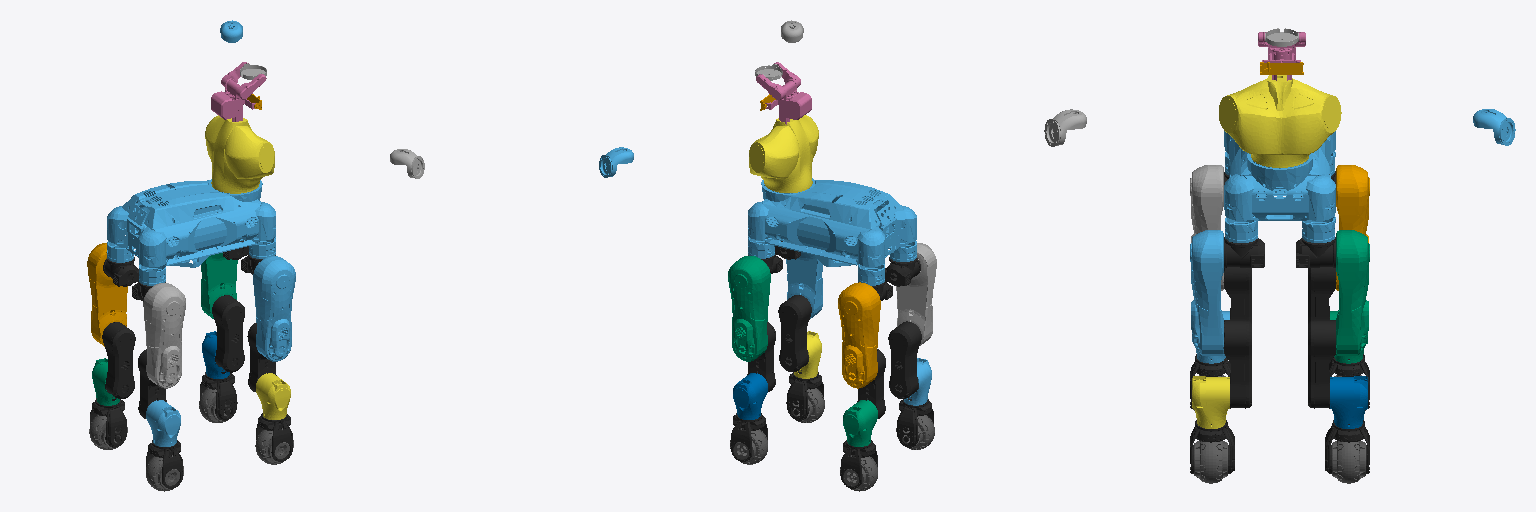
--- Facts derived from the render (not from the file) ---
3 views of the same robot in one strip: view 1: azimuth 30°, elevation 25°; view 2: azimuth 150°, elevation 25°; view 3: azimuth 270°, elevation 25° (orthographic).
Robot: centauro — 94 links, 93 joints (35 revolute, 4 continuous, 53 fixed, 1 floating); root link world; default pose: joints at zero except 2 at the middle of their limits (j_arm1_2 = 1.73, j_arm2_2 = -1.72).
Links seen in each view (by area): view 1: pelvis, torso_2, hip2_2, hip2_4, hip2_3, knee_1, knee_3, hip2_1, neck_1, ankle1_4, ankle1_2, ankle2_3 (+13 smaller); view 2: pelvis, torso_2, hip2_3, hip2_1, hip2_4, knee_4, knee_2, hip2_2, neck_1, ankle1_3, ankle1_1, ankle2_4 (+13 smaller); view 3: pelvis, torso_2, hip2_1, hip2_2, knee_1, knee_2, hip2_3, hip2_4, ankle1_1, ankle1_2, wheel_1, wheel_2 (+12 smaller).
Link boxes in pixels (<box>): pelvis: <box>107,179,275,285</box>; torso_2: <box>205,115,274,193</box>; hip2_2: <box>253,256,295,361</box>; hip2_4: <box>143,283,185,388</box>; hip2_3: <box>87,243,127,346</box>; knee_1: <box>212,295,244,372</box>; knee_3: <box>102,322,135,398</box>; hip2_1: <box>201,253,237,318</box>; neck_1: <box>211,62,266,121</box>; ankle1_4: <box>146,400,180,446</box>; ankle1_2: <box>256,373,290,419</box>; ankle2_3: <box>90,397,126,447</box>; pelvis: <box>748,178,916,285</box>; torso_2: <box>749,115,818,192</box>; hip2_3: <box>838,282,880,388</box>; hip2_1: <box>728,256,770,361</box>; hip2_4: <box>896,243,936,345</box>; knee_4: <box>888,321,921,398</box>; knee_2: <box>778,295,811,371</box>; hip2_2: <box>786,252,822,318</box>; neck_1: <box>756,62,811,124</box>; ankle1_3: <box>843,400,877,446</box>; ankle1_1: <box>733,373,767,419</box>; ankle2_4: <box>897,397,933,447</box>; pelvis: <box>1224,131,1335,242</box>; torso_2: <box>1219,75,1341,167</box>; hip2_1: <box>1336,230,1369,355</box>; hip2_2: <box>1190,230,1223,355</box>; knee_1: <box>1308,320,1335,408</box>; knee_2: <box>1224,320,1251,408</box>; hip2_3: <box>1336,165,1369,290</box>; hip2_4: <box>1190,165,1223,290</box>; ankle1_1: <box>1330,376,1367,428</box>; ankle1_2: <box>1192,376,1229,428</box>; wheel_1: <box>1332,441,1365,483</box>; wheel_2: <box>1194,441,1227,483</box>.
Size in the robot's own frame: 0.9762 by 1.52 by 1.62 metres.
Meshes: 23 distinct files referenced, 31 mesh visuals loaded (12 binary STL); not drawn: 18 (reference not matched to a file when rendering).

robot.urdf — centauro:
<?xml version="1.0" ?> 
<robot name="centauro" version="1.0">
  <material name="black">
    <color rgba="0.4 0.4 0.4 1.0" />
  </material>
  <material name="dark">
    <color rgba="0.1 0.1 0.1 1.0" />
  </material>
  <material name="dark_grey">
    <color rgba="0.2 0.2 0.2 1.0" />
  </material>
  <link name="base_link" />
  <link name="pelvis">
    <inertial>
      <origin xyz="-0.0016320207 0.0026534004000000003 0.079167428" rpy="0.0 0.0 0.0" />
      <mass value="26.584529" />
      <inertia ixx="0.39195477" ixy="0.024781258999999996" ixz="0.017108606999999998" iyy="1.0000708999999999" iyz="0.0052627106000000005" izz="1.0679988999999999" />
    </inertial>
    <visual>
      <origin xyz="0.0 0.0 0.0" rpy="0.0 0.0 0.0" />
      <geometry>
        <mesh filename="package://centauro_urdf/meshes/v2/pelvis.stl" scale="0.001 0.001 0.001" />
      </geometry>
    </visual>
    <collision name="pelvis">
      <origin xyz="-0.005084999999999992 2.00284e-07 0.03057945" rpy="3.141584708121066 1.5478729636744712 3.14158452386424" />
      <geometry>
        <cylinder radius="0.213204" length="0.38594139791384763" />
      </geometry>
    </collision>
  <collision_checking><capsule name="pelvis" /></collision_checking></link>
  <link name="imu_link" />
  <joint name="imu_joint" type="fixed">
    <origin xyz="0.248316 0.0 0.015" rpy="0.0 0.0 0.0" />
    <parent link="pelvis" />
    <child link="imu_link" />
  </joint>
  <joint name="base_joint" type="fixed">
    <origin xyz="0.0 0.0 0.0" rpy="0.0 0.0 0.0" />
    <parent link="pelvis" />
    <child link="base_link" />
  </joint>
  <link name="torso_2">
    <inertial>
      <origin xyz="-0.019497794 0.0045317835 0.13768283" rpy="0.0 0.0 0.0" />
      <mass value="12.553731" />
      <inertia ixx="0.063643392" ixy="8.939e-05" ixz="-0.00086873" iyy="0.02680235" iyz="-4.657e-05" izz="0.04743015" />
    </inertial>
    <visual>
      <origin xyz="0.0 0.0 0.0" rpy="0.0 0.0 0.0" />
      <geometry>
        <mesh filename="package://centauro_urdf/meshes/link1_no_head.stl" scale="0.001 0.001 0.001" />
      </geometry>
    </visual>
    <collision name="torso_2">
      <origin xyz="-3.2165000000000015e-05 9.785000000000002e-05 0.07465275" rpy="1.5666391113102787 -0.01588146658428072 -0.0158155835137567" />
      <geometry>
        <cylinder radius="0.158224" length="0.09543675990850982" />
      </geometry>
    </collision>
  <collision_checking><capsule name="torso_2" /></collision_checking></link>
  <joint name="torso_yaw" type="revolute">
    <origin xyz="0.2 0.0 0.256" rpy="0.0 0.0 0.0" />
    <axis xyz="0.0 0.0 1.0" />
    <parent link="pelvis" />
    <child link="torso_2" />
    <limit effort="147.0" lower="-2.618" upper="2.618" velocity="5.7" />
  </joint>
  <link name="arm1_1">
    <inertial>
      <origin xyz="-0.0074457212 0.03410796 0.00010978102" rpy="0.0 0.0 0.0" />
      <mass value="1.9628675" />
      <inertia ixx="0.0053547717" ixy="0.00036428926" ixz="1.5089568e-05" iyy="0.0033923328" iyz="5.5692312e-05" izz="0.0068921413" />
    </inertial>
    <visual>
      <origin xyz="0.0 0.0 0.0" rpy="0.0 0.0 0.0" />
      <geometry>
        <mesh filename="package://centauro_urdf/meshes/ShoulderPitch.STL" scale="0.001 -0.001 0.001" />
      </geometry>
      <material name="dark_grey" />
    </visual>
    <collision name="arm1_1">
      <origin xyz="0.017831411999999998 0.05324115 2.3169000000000008e-05" rpy="-1.6903347176271586 1.4526491831510902 -1.5721974565036339" />
      <geometry>
        <cylinder radius="0.0698859" length="0.03739768494560427" />
      </geometry>
    </collision>
  <collision_checking><capsule name="arm1_1" /></collision_checking></link>
  <link name="arm1_2">
    <inertial>
      <origin xyz="0.058142302 5.7450803e-05 -0.077477683" rpy="0.0 0.0 0.0" />
      <mass value="1.8595811" />
      <inertia ixx="0.013776643" ixy="3.7788675e-05" ixz="0.0037690171" iyy="0.015677464" iyz="-9.4893549e-06" izz="0.0046317657" />
    </inertial>
    <visual>
      <origin xyz="0.0 0.0 0.0" rpy="0.0 0.0 0.0" />
      <geometry>
        <mesh filename="package://centauro_urdf/meshes/ShoulderRoll.STL" scale="0.001 -0.001 0.001" />
      </geometry>
    </visual>
    <collision name="arm1_2">
      <origin xyz="0.0637382 4.0379999999999995e-07 -0.064359175" rpy="3.141581408692036 0.43013736369295724 3.141541177080914" />
      <geometry>
        <cylinder radius="0.0700645" length="0.12799269981445732" />
      </geometry>
    </collision>
  <collision_checking><capsule name="arm1_2" /></collision_checking></link>
  <link name="arm1_3">
    <inertial>
      <origin xyz="0.014625194 0.0008172672 -0.028333545" rpy="0.0 0.0 0.0" />
      <mass value="1.6678109" />
      <inertia ixx="0.0064480435" ixy="-0.00015639093" ixz="0.0012205359" iyy="0.0073372077" iyz="8.9941532e-05" izz="0.0036738448" />
    </inertial>
    <visual>
      <origin xyz="0.0 0.0 0.0" rpy="0.0 0.0 0.0" />
      <geometry>
        <mesh filename="package://centauro_urdf/meshes/ShoulderYaw.STL" scale="0.001 -0.001 0.001" />
      </geometry>
      <material name="dark_grey" />
    </visual>
    <collision name="arm1_3">
      <origin xyz="0.0073075385949999995 -0.0040911384949999996 -0.03662884" rpy="3.0024238046134086 0.2429098209130052 2.103907539504161" />
      <geometry>
        <cylinder radius="0.0896121" length="0.06082252644344949" />
      </geometry>
    </collision>
  <collision_checking><capsule name="arm1_3" /></collision_checking></link>
  <link name="arm1_4">
    <inertial>
      <origin xyz="-0.0076833067 -0.040302205 -0.043492779" rpy="0.0 0.0 0.0" />
      <mass value="1.3157289" />
      <inertia ixx="0.004330394" ixy="-0.00011737391" ixz="-0.00041923199" iyy="0.0038539919" iyz="-0.00079573038" izz="0.0017594689" />
    </inertial>
    <visual>
      <origin xyz="0.0 0.0 0.0" rpy="0.0 0.0 0.0" />
      <geometry>
        <mesh filename="package://centauro_urdf/meshes/Elbow.STL" scale="0.001 -0.001 0.001" />
      </geometry>
    </visual>
    <collision name="arm1_4">
      <origin xyz="-0.00746020465 -0.0408499 -0.0404292381" rpy="-0.33854605247629793 0.17337814940326016 -0.029704070188628324" />
      <geometry>
        <cylinder radius="0.0600429" length="0.08713418572944408" />
      </geometry>
    </collision>
  <collision_checking><capsule name="arm1_4" /></collision_checking></link>
  <link name="arm1_5">
    <inertial>
      <origin xyz="-0.00011079615 0.011590836 -0.07816026" rpy="0.0 0.0 0.0" />
      <mass value="1.4908547" />
      <inertia ixx="0.0085692128" ixy="1.7856252e-05" ixz="1.9379365e-05" iyy="0.0077454159" iyz="-0.00032860094" izz="0.0027441921" />
    </inertial>
    <visual>
      <origin xyz="0.0 0.0 0.0" rpy="0.0 0.0 0.0" />
      <geometry>
        <mesh filename="package://centauro_urdf/meshes/Forearm.STL" scale="0.001 -0.001 0.001" />
      </geometry>
      <material name="dark_grey" />
    </visual>
    <collision name="arm1_5">
      <origin xyz="-3.7982785e-06 0.00576208 -0.08227100000000001" rpy="-0.1950499967900825 0.00010897079569875528 -1.0661198134352675e-05" />
      <geometry>
        <cylinder radius="0.0804108" length="0.08434739747702645" />
      </geometry>
    </collision>
  <collision_checking><capsule name="arm1_5" /></collision_checking></link>
  <link name="arm1_6">
    <inertial>
      <origin xyz="-4.6502396e-06 -0.038014094 -0.069926878" rpy="0.0 0.0 0.0" />
      <mass value="1.1263612" />
      <inertia ixx="0.0051871784" ixy="2.724437e-05" ixz="2.2833496e-06" iyy="0.0048037789" iyz="-0.00072165653" izz="0.0012771388" />
    </inertial>
    <visual>
      <origin xyz="0.0 0.0 0.0" rpy="0.0 0.0 0.0" />
      <geometry>
        <mesh filename="package://centauro_urdf/meshes/wrist_pitch_right.stl" scale="0.001 -0.001 0.001" />
      </geometry>
    </visual>
    <collision name="arm1_6">
      <origin xyz="-0.0007855109 -0.028511995000000002 -0.03192399" rpy="-0.5594293097385409 -0.02095499521275571 0.006019428316027259" />
      <geometry>
        <cylinder radius="0.0474698" length="0.07750977987441161" />
      </geometry>
    </collision>
  <collision_checking><capsule name="arm1_6" /></collision_checking></link>
  <joint name="j_arm1_1" type="revolute">
    <origin xyz="0.0457475 0.169137 0.116626" rpy="0.174533 0.0 -0.5235988" />
    <axis xyz="0.0 1.0 0.0" />
    <parent link="torso_2" />
    <child link="arm1_1" />
    <limit effort="147.0" lower="-3.312" upper="1.615" velocity="3.86" />
  </joint>
  <joint name="j_arm1_2" type="revolute">
    <origin xyz="-0.09015 0.062 0.0" rpy="-0.1745327 0.0 0.0" />
    <axis xyz="1.0 0.0 0.0" />
    <parent link="arm1_1" />
    <child link="arm1_2" />
    <limit effort="147.0" lower="0.02" upper="3.431" velocity="3.86" />
  </joint>
  <joint name="j_arm1_3" type="revolute">
    <origin xyz="0.09015 0.0 -0.21815" rpy="0.0 0.0 0.0" />
    <axis xyz="0.0 0.0 1.0" />
    <parent link="arm1_2" />
    <child link="arm1_3" />
    <limit effort="147.0" lower="-2.552" upper="2.566" velocity="6.06" />
  </joint>
  <joint name="j_arm1_4" type="revolute">
    <origin xyz="0.045 0.05515 -0.074" rpy="0.0 0.0 0.0" />
    <axis xyz="0.0 1.0 0.0" />
    <parent link="arm1_3" />
    <child link="arm1_4" />
    <limit effort="147.0" lower="-2.465" upper="0.28" velocity="6.06" />
  </joint>
  <joint name="j_arm1_5" type="revolute">
    <origin xyz="-0.015 -0.05515 -0.095" rpy="0.0 0.0 0.0" />
    <axis xyz="0.0 0.0 1.0" />
    <parent link="arm1_4" />
    <child link="arm1_5" />
    <limit effort="55.0" lower="-2.569" upper="2.562" velocity="11.72" />
  </joint>
  <joint name="j_arm1_6" type="revolute">
    <origin xyz="0.0 0.049 -0.156" rpy="0.0 0.0 0.0" />
    <axis xyz="0.0 1.0 0.0" />
    <parent link="arm1_5" />
    <child link="arm1_6" />
    <limit effort="55.0" lower="-1.529" upper="1.509" velocity="11.72" />
  </joint>
  <link name="arm2_1">
    <inertial>
      <origin xyz="-0.0074457212 -0.03410796 0.00010978102" rpy="0.0 0.0 0.0" />
      <mass value="1.9628675" />
      <inertia ixx="0.0053547717" ixy="-0.00036428926" ixz="1.5089568e-05" iyy="0.0033923328" iyz="-5.5692312e-05" izz="0.0068921413" />
    </inertial>
    <visual>
      <origin xyz="0.0 0.0 0.0" rpy="0.0 0.0 0.0" />
      <geometry>
        <mesh filename="package://centauro_urdf/meshes/ShoulderPitch.STL" scale="0.001 0.001 0.001" />
      </geometry>
      <material name="dark_grey" />
    </visual>
    <collision name="arm2_1">
      <origin xyz="0.017831411999999998 -0.05324115 2.3169000000000008e-05" rpy="1.6903347176271586 1.4526491831510902 1.5721974565036339" />
      <geometry>
        <cylinder radius="0.0698859" length="0.03739768494560427" />
      </geometry>
    </collision>
  <collision_checking><capsule name="arm2_1" /></collision_checking></link>
  <link name="arm2_2">
    <inertial>
      <origin xyz="0.058142302 -5.7450803e-05 -0.077477683" rpy="0.0 0.0 0.0" />
      <mass value="1.8595811" />
      <inertia ixx="0.013776643" ixy="-3.7788675e-05" ixz="0.0037690171" iyy="0.015677464" iyz="9.4893549e-06" izz="0.0046317657" />
    </inertial>
    <visual>
      <origin xyz="0.0 0.0 0.0" rpy="0.0 0.0 0.0" />
      <geometry>
        <mesh filename="package://centauro_urdf/meshes/ShoulderRoll.STL" scale="0.001 0.001 0.001" />
      </geometry>
    </visual>
    <collision name="arm2_2">
      <origin xyz="0.0637382 -4.0379999999999995e-07 -0.064359175" rpy="-3.141581408692036 0.43013736369295724 -3.141541177080914" />
      <geometry>
        <cylinder radius="0.0700645" length="0.12799269981445732" />
      </geometry>
    </collision>
  <collision_checking><capsule name="arm2_2" /></collision_checking></link>
  <link name="arm2_3">
    <inertial>
      <origin xyz="0.014625194 -0.0008172672 -0.028333545" rpy="0.0 0.0 0.0" />
      <mass value="1.6678109" />
      <inertia ixx="0.0064480435" ixy="0.00015639093" ixz="0.0012205359" iyy="0.0073372077" iyz="-8.9941532e-05" izz="0.0036738448" />
    </inertial>
    <visual>
      <origin xyz="0.0 0.0 0.0" rpy="0.0 0.0 0.0" />
      <geometry>
        <mesh filename="package://centauro_urdf/meshes/ShoulderYaw.STL" scale="0.001 0.001 0.001" />
      </geometry>
      <material name="dark_grey" />
    </visual>
    <collision name="arm2_3">
      <origin xyz="0.0073075385949999995 0.0040911384949999996 -0.03662884" rpy="-3.0024238046134086 0.2429098209130052 -2.103907539504161" />
      <geometry>
        <cylinder radius="0.0896121" length="0.06082252644344949" />
      </geometry>
    </collision>
  <collision_checking><capsule name="arm2_3" /></collision_checking></link>
  <link name="arm2_4">
    <inertial>
      <origin xyz="-0.0076833067 0.040302205 -0.043492779" rpy="0.0 0.0 0.0" />
      <mass value="1.3157289" />
      <inertia ixx="0.004330394" ixy="0.00011737391" ixz="-0.00041923199" iyy="0.0038539919" iyz="0.00079573038" izz="0.0017594689" />
    </inertial>
    <visual>
      <origin xyz="0.0 0.0 0.0" rpy="0.0 0.0 0.0" />
      <geometry>
        <mesh filename="package://centauro_urdf/meshes/Elbow.STL" scale="0.001 0.001 0.001" />
      </geometry>
    </visual>
    <collision name="arm2_4">
      <origin xyz="-0.00746020465 0.0408499 -0.0404292381" rpy="0.33854605247629793 0.17337814940326016 0.029704070188628324" />
      <geometry>
        <cylinder radius="0.0600429" length="0.08713418572944408" />
      </geometry>
    </collision>
  <collision_checking><capsule name="arm2_4" /></collision_checking></link>
  <link name="arm2_5">
    <inertial>
      <origin xyz="-0.00011079615 -0.011590836 -0.07816026" rpy="0.0 0.0 0.0" />
      <mass value="1.4908547" />
      <inertia ixx="0.0085692128" ixy="-1.7856252e-05" ixz="1.9379365e-05" iyy="0.0077454159" iyz="0.00032860094" izz="0.0027441921" />
    </inertial>
    <visual>
      <origin xyz="0.0 0.0 0.0" rpy="0.0 0.0 0.0" />
      <geometry>
        <mesh filename="package://centauro_urdf/meshes/Forearm.STL" scale="0.001 0.001 0.001" />
      </geometry>
      <material name="dark_grey" />
    </visual>
    <collision name="arm2_5">
      <origin xyz="-3.7982785e-06 -0.00576208 -0.08227100000000001" rpy="0.1950499967900825 0.00010897079569875528 1.0661198134352675e-05" />
      <geometry>
        <cylinder radius="0.0804108" length="0.08434739747702645" />
      </geometry>
    </collision>
  <collision_checking><capsule name="arm2_5" /></collision_checking></link>
  <link name="arm2_6">
    <inertial>
      <origin xyz="-4.6502396e-06 0.038014094 -0.069926878" rpy="0.0 0.0 0.0" />
      <mass value="1.1263612" />
      <inertia ixx="0.0051871784" ixy="-2.724437e-05" ixz="2.2833496e-06" iyy="0.0048037789" iyz="0.00072165653" izz="0.0012771388" />
    </inertial>
    <visual>
      <origin xyz="0.0 0.0 0.0" rpy="0.0 0.0 0.0" />
      <geometry>
        <mesh filename="package://centauro_urdf/meshes/wrist_pitch_right.stl" scale="0.001 0.001 0.001" />
      </geometry>
    </visual>
    <collision name="arm2_6">
      <origin xyz="-0.0007855109 0.028511995000000002 -0.03192399" rpy="0.5594293097385409 -0.02095499521275571 -0.006019428316027259" />
      <geometry>
        <cylinder radius="0.0474698" length="0.07750977987441161" />
      </geometry>
    </collision>
  <collision_checking><capsule name="arm2_6" /></collision_checking></link>
  <joint name="j_arm2_1" type="revolute">
    <origin xyz="0.0457475 -0.169137 0.116626" rpy="-0.174533 0.0 0.5235988" />
    <axis xyz="0.0 1.0 0.0" />
    <parent link="torso_2" />
    <child link="arm2_1" />
    <limit effort="147.0" lower="-3.3458" upper="1.6012" velocity="3.86" />
  </joint>
  <joint name="j_arm2_2" type="revolute">
    <origin xyz="-0.09015 -0.062 0.0" rpy="0.1745327 0.0 0.0" />
    <axis xyz="1.0 0.0 0.0" />
    <parent link="arm2_1" />
    <child link="arm2_2" />
    <limit effort="147.0" lower="-3.4258" upper="-0.0138" velocity="3.86" />
  </joint>
  <joint name="j_arm2_3" type="revolute">
    <origin xyz="0.09015 0.0 -0.21815" rpy="0.0 0.0 0.0" />
    <axis xyz="0.0 0.0 1.0" />
    <parent link="arm2_2" />
    <child link="arm2_3" />
    <limit effort="147.0" lower="-2.5614" upper="2.5606" velocity="6.06" />
  </joint>
  <joint name="j_arm2_4" type="revolute">
    <origin xyz="0.045 -0.05515 -0.074" rpy="0.0 0.0 0.0" />
    <axis xyz="0.0 1.0 0.0" />
    <parent link="arm2_3" />
    <child link="arm2_4" />
    <limit effort="147.0" lower="-2.4794" upper="0.2886" velocity="6.06" />
  </joint>
  <joint name="j_arm2_5" type="revolute">
    <origin xyz="-0.015 0.05515 -0.095" rpy="0.0 0.0 0.0" />
    <axis xyz="0.0 0.0 1.0" />
    <parent link="arm2_4" />
    <child link="arm2_5" />
    <limit effort="55.0" lower="-2.5394" upper="2.5546" velocity="11.72" />
  </joint>
  <joint name="j_arm2_6" type="revolute">
    <origin xyz="0.0 -0.049 -0.156" rpy="0.0 0.0 0.0" />
    <axis xyz="0.0 1.0 0.0" />
    <parent link="arm2_5" />
    <child link="arm2_6" />
    <limit effort="55.0" lower="-1.5154" upper="1.5156" velocity="11.72" />
  </joint>
  <link name="ball1">
    <inertial>
      <origin xyz="-1.0072498e-05 3.7590658e-05 0.019772332" rpy="0.0 0.0 0.0" />
      <mass value="1.27" />
      <inertia ixx="0.0023061092" ixy="2.9181758e-07" ixz="-2.1246683999999997e-07" iyy="0.0023053155000000002" iyz="7.9290978e-07" izz="0.0030675615999999997" />
    </inertial>
    <visual>
      <origin xyz="0.0 0.0 0.0" rpy="0.0 0.0 0.0" />
      <geometry>
        <mesh filename="package://centauro_urdf/meshes/BallHand.stl" scale="0.001 0.001 0.001" />
      </geometry>
      <material name="dark_grey" />
    </visual>
    <collision name="ball1">
      <origin xyz="-2.6819999999999855e-07 1.2015000000000003e-06 -0.0105021" rpy="-1.5654390438571615 -1.1857782102348717 1.1808181135942444" />
      <geometry>
        <cylinder radius="0.0709883" length="9.940076835940455e-05" />
      </geometry>
    </collision>
  <collision_checking><capsule name="ball1" /></collision_checking></link>
  <link name="ball1_tip" />
  <joint name="j_arm1_8" type="fixed">
    <origin xyz="0.0 -0.05 -0.105" rpy="0.0 0.0 0.0" />
    <parent link="arm1_6" />
    <child link="ball1" />
  </joint>
  <joint name="j_ball1_tip" type="fixed">
    <origin xyz="0.0 0.0 -0.07" rpy="0.0 0.0 0.0" />
    <parent link="ball1" />
    <child link="ball1_tip" />
  </joint>
  <joint name="j_ball1_fixed" type="fixed">
    <parent link="ball1" />
    <child link="arm1_8" />
  </joint>
  <link name="arm1_8">
    <inertial>
      <mass value="0.0" />
      <inertia ixx="0.0" ixy="0.0" ixz="0.0" iyy="0.0" iyz="0.0" izz="0.0" />
    </inertial>
  </link>
  <link name="ball2">
    <inertial>
      <origin xyz="-1.0072498e-05 3.7590658e-05 0.019772332" rpy="0.0 0.0 0.0" />
      <mass value="1.27" />
      <inertia ixx="0.0023061092" ixy="2.9181758e-07" ixz="-2.1246683999999997e-07" iyy="0.0023053155000000002" iyz="7.9290978e-07" izz="0.0030675615999999997" />
    </inertial>
    <visual>
      <origin xyz="0.0 0.0 0.0" rpy="0.0 0.0 0.0" />
      <geometry>
        <mesh filename="package://centauro_urdf/meshes/BallHand.stl" scale="0.001 0.001 0.001" />
      </geometry>
      <material name="dark_grey" />
    </visual>
    <collision name="ball2">
      <origin xyz="-2.6819999999999855e-07 1.2015000000000003e-06 -0.0105021" rpy="-1.5654390438571615 -1.1857782102348717 1.1808181135942444" />
      <geometry>
        <cylinder radius="0.0709883" length="9.940076835940455e-05" />
      </geometry>
    </collision>
  <collision_checking><capsule name="ball2" /></collision_checking></link>
  <link name="ball2_tip" />
  <joint name="j_arm2_8" type="fixed">
    <origin xyz="0.0 0.05 -0.105" rpy="0.0 0.0 0.0" />
    <parent link="arm2_6" />
    <child link="ball2" />
  </joint>
  <joint name="j_ball2_tip" type="fixed">
    <origin xyz="0.0 0.0 -0.07" rpy="0.0 0.0 0.0" />
    <parent link="ball2" />
    <child link="ball2_tip" />
  </joint>
  <joint name="j_ball2_fixed" type="fixed">
    <parent link="ball2" />
    <child link="arm2_8" />
  </joint>
  <link name="arm2_8">
    <inertial>
      <mass value="0.0" />
      <inertia ixx="0.0" ixy="0.0" ixz="0.0" iyy="0.0" iyz="0.0" izz="0.0" />
    </inertial>
  </link>
  <link name="neck_1">
    <inertial>
      <origin xyz="0.0 0.0 0.0" rpy="0.0 0.0 0.0" />
      <mass value="0.33878686" />
      <inertia ixx="0.0003718568" ixy="-9.42983e-05" ixz="-2.80644e-05" iyy="0.0001886879" iyz="-1.54534e-05" izz="0.0005023443" />
    </inertial>
    <visual>
      <origin xyz="0.0 0.0 0.0" rpy="0.0 0.0 0.0" />
      <geometry>
        <mesh filename="package://centauro_urdf/meshes/head-base_mesh.stl" scale="0.001 0.001 0.001" />
      </geometry>
    </visual>
    <collision name="neck_1">
      <origin xyz="0.006498149999999998 -1.4782499999999998e-06 0.1544216" rpy="0.00021616021402232196 0.3728341899733125 4.076931979237498e-05" />
      <geometry>
        <cylinder radius="0.100414" length="0.16454098025546557" />
      </geometry>
    </collision>
  <collision_checking><capsule name="neck_1" /></collision_checking></link>
  <link name="velodyne_motor">
    <inertial>
      <origin xyz="0.0 0.0 0.0" rpy="0.0 0.0 0.0" />
      <mass value="0.33878686" />
      <inertia ixx="0.0003718568" ixy="-9.42983e-05" ixz="-2.80644e-05" iyy="0.0001886879" iyz="-1.54534e-05" izz="0.0005023443" />
    </inertial>
    <visual>
      <origin xyz="0.0 0.0 0.0" rpy="0.0 0.0 0.0" />
      <geometry>
        <mesh filename="package://centauro_urdf/meshes/lidar_mesh.stl" scale="0.001 0.001 0.001" />
      </geometry>
    </visual>
    <collision name="velodyne_motor">
      <origin xyz="-0.0007438725 0.005083050000000001 0.008359974999999999" rpy="-1.5617654568599377 -0.08162793425341344 0.08089487547525437" />
      <geometry>
        <cylinder radius="0.0544637" length="0.032463112134515464" />
      </geometry>
    </collision>
  <collision_checking><capsule name="velodyne_motor" /></collision_checking></link>
  <link name="d435_head_motor">
    <inertial>
      <origin xyz="0.0 0.0 0.0" rpy="0.0 0.0 0.0" />
      <mass value="0.33878686" />
      <inertia ixx="0.0003718568" ixy="-9.42983e-05" ixz="-2.80644e-05" iyy="0.0001886879" iyz="-1.54534e-05" izz="0.0005023443" />
    </inertial>
    <visual>
      <origin xyz="0.0 0.0 0.0" rpy="0.0 0.0 0.0" />
      <geometry>
        <mesh filename="package://centauro_urdf/meshes/neck-pitch_mesh.stl" scale="0.001 0.001 0.001" />
      </geometry>
    </visual>
    <collision name="d435_head_motor">
      <origin xyz="0.01553645 -0.004684799999999996 0.0025092235000000003" rpy="-1.5968195967793293 0.04575443525621143 -0.04696044351276075" />
      <geometry>
        <cylinder radius="0.0261699" length="0.12134423548428976" />
      </geometry>
    </collision>
  <collision_checking><capsule name="d435_head_motor" /></collision_checking></link>
  <joint name="neck_base" type="fixed">
    <origin xyz="0.0030637045 0.0061607221 0.158" rpy="0.0 0.0 0.0" />
    <axis xyz="0.0 0.0 1.0" />
    <parent link="torso_2" />
    <child link="neck_1" />
  </joint>
  <joint name="velodyne_joint" type="revolute">
    <origin xyz="0.0822724 0.0 0.242" rpy="0.0 0.0 0.0" />
    <axis xyz="0.0 -1.0 0.0" />
    <parent link="neck_1" />
    <child link="velodyne_motor" />
    <limit effort="35.0" lower="-1.1" upper="1.1" velocity="5.7" />
    <dynamics friction="10.0" />
  </joint>
  <joint name="d435_head_joint" type="revolute">
    <origin xyz="0.06 0.0 0.1375" rpy="0.0 0.0 0.0" />
    <axis xyz="0.0 -1.0 0.0" />
    <parent link="neck_1" />
    <child link="d435_head_motor" />
    <limit effort="35.0" lower="-1.1" upper="1.1" velocity="5.7" />
    <dynamics friction="10.0" />
  </joint>
  <material name="D435_head_camera_aluminum">
    <color rgba="0.5 0.5 0.5 1.0" />
  </material>
  <joint name="D435_head_camera_joint" type="fixed">
    <origin xyz="0.03015 0.0 -0.0125" rpy="0.0 0.0 0.0" />
    <parent link="d435_head_motor" />
    <child link="D435_head_camera_bottom_screw_frame" />
  </joint>
  <link name="D435_head_camera_bottom_screw_frame" />
  <joint name="D435_head_camera_link_joint" type="fixed">
    <origin xyz="0.0 0.0175 0.0125" rpy="0.0 0.0 0.0" />
    <parent link="D435_head_camera_bottom_screw_frame" />
    <child link="D435_head_camera_link" />
  </joint>
  <link name="D435_head_camera_link">
    <inertial>
      <origin xyz="0.0 0.0 0.0" rpy="0.0 0.0 0.0" />
      <mass value="0.564" />
      <inertia ixx="0.003881243" ixy="0.0" ixz="0.0" iyy="0.00049894" iyz="0.0" izz="0.003879257" />
    </inertial>
    <visual>
      <origin xyz="0.0149 -0.0175 0.0" rpy="1.5707963267948966 0.0 1.5707963267948966" />
      <geometry>
        <mesh filename="package://realsense2_description/meshes/d435.dae" />
      </geometry>
      <material name="D435_head_camera_aluminum" />
    </visual>
    <collision>
      <origin xyz="0.0 -0.0175 0.0" rpy="0.0 0.0 0.0" />
      <geometry>
        <box size="0.02505 0.09 0.025" />
      </geometry>
    </collision>
  <collision_checking><capsule name="D435_head_camera_link" /></collision_checking></link>
  <joint name="D435_head_camera_depth_joint" type="fixed">
    <origin xyz="0.0 0.0 0.0" rpy="0.0 0.0 0.0" />
    <parent link="D435_head_camera_link" />
    <child link="D435_head_camera_depth_frame" />
  </joint>
  <link name="D435_head_camera_depth_frame" />
  <joint name="D435_head_camera_depth_optical_joint" type="fixed">
    <origin xyz="0.0 0.0 0.0" rpy="-1.5707963267948966 0.0 -1.5707963267948966" />
    <parent link="D435_head_camera_depth_frame" />
    <child link="D435_head_camera_depth_optical_frame" />
  </joint>
  <link name="D435_head_camera_depth_optical_frame" />
  <joint name="D435_head_camera_left_ir_joint" type="fixed">
    <origin xyz="0.0 0.0 0.0" rpy="0.0 0.0 0.0" />
    <parent link="D435_head_camera_depth_frame" />
    <child link="D435_head_camera_left_ir_frame" />
  </joint>
  <link name="D435_head_camera_left_ir_frame" />
  <joint name="D435_head_camera_left_ir_optical_joint" type="fixed">
    <origin xyz="0.0 0.0 0.0" rpy="-1.5707963267948966 0.0 -1.5707963267948966" />
    <parent link="D435_head_camera_left_ir_frame" />
    <child link="D435_head_camera_left_ir_optical_frame" />
  </joint>
  <link name="D435_head_camera_left_ir_optical_frame" />
  <joint name="D435_head_camera_right_ir_joint" type="fixed">
    <origin xyz="0.0 -0.05 0.0" rpy="0.0 0.0 0.0" />
    <parent link="D435_head_camera_depth_frame" />
    <child link="D435_head_camera_right_ir_frame" />
  </joint>
  <link name="D435_head_camera_right_ir_frame" />
  <joint name="D435_head_camera_right_ir_optical_joint" type="fixed">
    <origin xyz="0.0 0.0 0.0" rpy="-1.5707963267948966 0.0 -1.5707963267948966" />
    <parent link="D435_head_camera_right_ir_frame" />
    <child link="D435_head_camera_right_ir_optical_frame" />
  </joint>
  <link name="D435_head_camera_right_ir_optical_frame" />
  <joint name="D435_head_camera_color_joint" type="fixed">
    <origin xyz="0.0 0.015 0.0" rpy="0.0 0.0 0.0" />
    <parent link="D435_head_camera_depth_frame" />
    <child link="D435_head_camera_color_frame" />
  </joint>
  <link name="D435_head_camera_color_frame" />
  <joint name="D435_head_camera_color_optical_joint" type="fixed">
    <origin xyz="0.0 0.0 0.0" rpy="-1.5707963267948966 0.0 -1.5707963267948966" />
    <parent link="D435_head_camera_color_frame" />
    <child link="D435_head_camera_color_optical_frame" />
  </joint>
  <link name="D435_head_camera_color_optical_frame" />
  <joint name="D435_head_camera_accel_joint" type="fixed">
    <origin xyz="-0.00174 0.00552 0.0176" rpy="0.0 0.0 0.0" />
    <parent link="D435_head_camera_link" />
    <child link="D435_head_camera_accel_frame" />
  </joint>
  <link name="D435_head_camera_accel_frame" />
  <joint name="D435_head_camera_accel_optical_joint" type="fixed">
    <origin xyz="0.0 0.0 0.0" rpy="-1.5707963267948966 0.0 -1.5707963267948966" />
    <parent link="D435_head_camera_accel_frame" />
    <child link="D435_head_camera_accel_optical_frame" />
  </joint>
  <link name="D435_head_camera_accel_optical_frame" />
  <joint name="D435_head_camera_gyro_joint" type="fixed">
    <origin xyz="-0.00174 0.00552 0.0176" rpy="0.0 0.0 0.0" />
    <parent link="D435_head_camera_link" />
    <child link="D435_head_camera_gyro_frame" />
  </joint>
  <link name="D435_head_camera_gyro_frame" />
  <joint name="D435_head_camera_gyro_optical_joint" type="fixed">
    <origin xyz="0.0 0.0 0.0" rpy="-1.5707963267948966 0.0 -1.5707963267948966" />
    <parent link="D435_head_camera_gyro_frame" />
    <child link="D435_head_camera_gyro_optical_frame" />
  </joint>
  <link name="D435_head_camera_gyro_optical_frame" />
  <gazebo reference="D435_head_camera_link">
    <self_collide>0</self_collide>
    <enable_wind>0</enable_wind>
    <kinematic>0</kinematic>
    <mu2>1</mu2>
    <fdir1>0 0 0</fdir1>
    <kp>1e+13</kp>
    <kd>1</kd>
    <sensor name="D435_head_cameracolor" type="camera">
      <camera name="D435_head_camera">
        <horizontal_fov>1.2112585008840648</horizontal_fov>
        <image>
          <width>1280</width>
          <height>720</height>
          <format>RGB_INT8</format>
        </image>
        <clip>
          <near>0.1</near>
          <far>100</far>
        </clip>
        <noise>
          <type>gaussian</type>
          <mean>0.0</mean>
          <stddev>0.007</stddev>
        </noise>
      </camera>
      <always_on>1</always_on>
      <update_rate>30</update_rate>
      <visualize>False</visualize>
    </sensor>
    <sensor name="D435_head_cameraired1" type="camera">
      <camera name="D435_head_camera">
        <horizontal_fov>1.4870205226991688</horizontal_fov>
        <image>
          <width>1280</width>
          <height>720</height>
          <format>L_INT8</format>
        </image>
        <clip>
          <near>0.1</near>
          <far>100</far>
        </clip>
        <noise>
          <type>gaussian</type>
          <mean>0.0</mean>
          <stddev>0.05</stddev>
        </noise>
      </camera>
      <always_on>1</always_on>
      <update_rate>90</update_rate>
      <visualize>false</visualize>
    </sensor>
    <sensor name="D435_head_cameraired2" type="camera">
      <camera name="D435_head_camera">
        <horizontal_fov>1.4870205226991688</horizontal_fov>
        <image>
          <width>1280</width>
          <height>720</height>
          <format>L_INT8</format>
        </image>
        <clip>
          <near>0.1</near>
          <far>100</far>
        </clip>
        <noise>
          <type>gaussian</type>
          <mean>0.0</mean>
          <stddev>0.05</stddev>
        </noise>
      </camera>
      <always_on>1</always_on>
      <update_rate>90</update_rate>
      <visualize>false</visualize>
    </sensor>
    <sensor name="D435_head_cameradepth" type="depth">
      <camera name="D435_head_camera">
        <horizontal_fov>1.2112585008840648</horizontal_fov>
        <image>
          <width>1280</width>
          <height>720</height>
        </image>
        <clip>
          <near>0.1</near>
          <far>100</far>
        </clip>
        <noise>
          <type>gaussian</type>
          <mean>0.0</mean>
          <stddev>0.100</stddev>
        </noise>
      </camera>
      <always_on>1</always_on>
      <update_rate>30</update_rate>
      <visualize>false</visualize>
    </sensor>
    <sensor name="D435_head_cameraaccel" type="imu">
      <always_on>true</always_on>
      <update_rate>300</update_rate>
      <topic>D435_head_camera/accel/sample</topic>
      <plugin filename="librealsense_gazebo_accel_sensor.so" name="D435_head_camera_accel_plugin">
        <topicName>D435_head_camera/accel/sample</topicName>
        <bodyName>D435_head_camera_link</bodyName>
        <updateRateHZ>300</updateRateHZ>
        <gaussianNoise>0.1</gaussianNoise>
        <xyzOffset>0 0 0</xyzOffset>
        <rpyOffset>0 0 0</rpyOffset>
        <frameName>D435_head_camera_accel_optical_frame</frameName>
        <initialOrientationAsReference>false</initialOrientationAsReference>
      </plugin>
      <pose>0 0 0 0 0 0</pose>
    </sensor>
    <sensor name="D435_head_cameragyro" type="imu">
      <always_on>true</always_on>
      <update_rate>300</update_rate>
      <topic>D435_head_camera/gyro/sample</topic>
      <plugin filename="librealsense_gazebo_gyro_sensor.so" name="D435_head_camera_gyro_plugin">
        <topicName>D435_head_camera/gyro/sample</topicName>
        <bodyName>D435_head_camera_link</bodyName>
        <updateRateHZ>300</updateRateHZ>
        <gaussianNoise>0.1</gaussianNoise>
        <xyzOffset>0 0 0</xyzOffset>
        <rpyOffset>0 0 0</rpyOffset>
        <frameName>D435_head_camera_gyro_optical_frame</frameName>
        <initialOrientationAsReference>false</initialOrientationAsReference>
      </plugin>
    </sensor>
  </gazebo>
  <gazebo>
    <plugin filename="librealsense_gazebo_plugin.so" name="D435_head_camera">
      <prefix>D435_head_camera</prefix>
      <colorUpdateRate>30</colorUpdateRate>
      <colorTopicName>color/image_raw</colorTopicName>
      <colorOpticalframeName>D435_head_camera_color_optical_frame</colorOpticalframeName>
      <colorCameraInfoTopicName>color/camera_info</colorCameraInfoTopicName>
      <infraredUpdateRate>90</infraredUpdateRate>
      <infrared1TopicName>infra1/image_rect_raw</infrared1TopicName>
      <infrared2TopicName>infra2/image_rect_raw</infrared2TopicName>
      <infrared1CameraInfoTopicName>infra1/camera_info</infrared1CameraInfoTopicName>
      <infrared2CameraInfoTopicName>infra2/camera_info</infrared2CameraInfoTopicName>
      <infrared1OpticalframeName>D435_head_camera_left_ir_optical_frame</infrared1OpticalframeName>
      <infrared2OpticalframeName>D435_head_camera_right_ir_optical_frame</infrared2OpticalframeName>
      <rangeMinDepth>0.2</rangeMinDepth>
      <rangeMaxDepth>10.0</rangeMaxDepth>
      <depthUpdateRate>30</depthUpdateRate>
      <depthTopicName>aligned_depth_to_color/image_raw</depthTopicName>
      <depthCameraInfoTopicName>aligned_depth_to_color/camera_info</depthCameraInfoTopicName>
      <depthOpticalframeName>D435_head_camera_color_optical_frame</depthOpticalframeName>
      <pointCloud>True</pointCloud>
      <pointCloudTopicName>depth/color/points</pointCloudTopicName>
      <pointCloudCutoff>0.5</pointCloudCutoff>
    </plugin>
  </gazebo>
  <joint name="velodyne_calib_base_mount_joint" type="fixed">
    <origin xyz="0.0 0.0 0.0" rpy="0.0 0.0 0.0" />
    <parent link="velodyne_motor" />
    <child link="velodyne_calib_base_link" />
  </joint>
  <link name="velodyne_calib_base_link">
    <inertial>
      <origin xyz="0.0 0.0 0.03585" rpy="0.0 0.0 0.0" />
      <mass value="0.83" />
      <inertia ixx="0.000908059425" ixy="0.0" ixz="0.0" iyy="0.000908059425" iyz="0.0" izz="0.0011049624" />
    </inertial>
    <visual>
      <geometry>
        <mesh filename="package://velodyne_description/meshes/VLP16_base_1.dae" />
      </geometry>
    </visual>
    <visual>
      <geometry>
        <mesh filename="package://velodyne_description/meshes/VLP16_base_2.dae" />
      </geometry>
    </visual>
    <collision name="velodyne_calib_base_link">
      <origin xyz="0.0 0.0 0.03585" rpy="0.0 0.0 0.0" />
      <geometry>
        <cylinder radius="0.0516" length="0.0717" />
      </geometry>
    </collision>
  <collision_checking><capsule name="velodyne_calib_base_link" /></collision_checking></link>
  <joint name="velodyne_calib_base_scan_joint" type="fixed">
    <origin xyz="0.0 0.0 0.0377" rpy="0.0 0.0 0.0" />
    <parent link="velodyne_calib_base_link" />
    <child link="velodyne_calib" />
  </joint>
  <link name="velodyne_calib">
    <inertial>
      <origin xyz="0.0 0.0 0.0" rpy="0.0 0.0 0.0" />
      <mass value="0.01" />
      <inertia ixx="1e-07" ixy="0.0" ixz="0.0" iyy="1e-07" iyz="0.0" izz="1e-07" />
    </inertial>
    <visual>
      <origin xyz="0.0 0.0 -0.0377" rpy="0.0 0.0 0.0" />
      <geometry>
        <mesh filename="package://velodyne_description/meshes/VLP16_scan.dae" />
      </geometry>
    </visual>
  </link>
  <gazebo reference="velodyne_calib">
    <sensor name="velodyne_calib-VLP16" type="ray">
      <pose>0 0 0 0 0 0</pose>
      <visualize>false</visualize>
      <update_rate>10</update_rate>
      <ray>
        <scan>
          <horizontal>
            <samples>440</samples>
            <resolution>1</resolution>
            <min_angle>-3.141592653589793</min_angle>
            <max_angle>3.141592653589793</max_angle>
          </horizontal>
          <vertical>
            <samples>16</samples>
            <resolution>1</resolution>
            <min_angle>-0.2617993877991494</min_angle>
            <max_angle> 0.2617993877991494</max_angle>
          </vertical>
        </scan>
        <range>
          <min>0.3</min>
          <max>131.0</max>
          <resolution>0.001</resolution>
        </range>
        <noise>
          <type>gaussian</type>
          <mean>0.0</mean>
          <stddev>0.0</stddev>
        </noise>
      </ray>
      <plugin filename="libgazebo_ros_velodyne_laser.so" name="gazebo_ros_laser_controller">
        <topicName>/velodyne_points</topicName>
        <frameName>velodyne_calib</frameName>
        <organize_cloud>False</organize_cloud>
        <min_range>0.9</min_range>
        <max_range>130.0</max_range>
        <gaussianNoise>0.008</gaussianNoise>
      </plugin>
    </sensor>
  </gazebo>
  <material name="D435i_camera_aluminum">
    <color rgba="0.5 0.5 0.5 1.0" />
  </material>
  <joint name="D435i_camera_joint" type="fixed">
    <origin xyz="0.27187 0.0 0.0215997" rpy="0.0 0.5251508 0.0" />
    <parent link="pelvis" />
    <child link="D435i_camera_bottom_screw_frame" />
  </joint>
  <link name="D435i_camera_bottom_screw_frame" />
  <joint name="D435i_camera_link_joint" type="fixed">
    <origin xyz="0.0 0.0175 0.0125" rpy="0.0 0.0 0.0" />
    <parent link="D435i_camera_bottom_screw_frame" />
    <child link="D435i_camera_link" />
  </joint>
  <link name="D435i_camera_link">
    <inertial>
      <origin xyz="0.0 0.0 0.0" rpy="0.0 0.0 0.0" />
      <mass value="0.564" />
      <inertia ixx="0.003881243" ixy="0.0" ixz="0.0" iyy="0.00049894" iyz="0.0" izz="0.003879257" />
    </inertial>
    <visual>
      <origin xyz="0.0149 -0.0175 0.0" rpy="1.5707963267948966 0.0 1.5707963267948966" />
      <geometry>
        <mesh filename="package://realsense2_description/meshes/d435.dae" />
      </geometry>
      <material name="D435i_camera_aluminum" />
    </visual>
    <collision>
      <origin xyz="0.0 -0.0175 0.0" rpy="0.0 0.0 0.0" />
      <geometry>
        <box size="0.02505 0.09 0.025" />
      </geometry>
    </collision>
  <collision_checking><capsule name="D435i_camera_link" /></collision_checking></link>
  <joint name="D435i_camera_depth_joint" type="fixed">
    <origin xyz="0.0 0.0 0.0" rpy="0.0 0.0 0.0" />
    <parent link="D435i_camera_link" />
    <child link="D435i_camera_depth_frame" />
  </joint>
  <link name="D435i_camera_depth_frame" />
  <joint name="D435i_camera_depth_optical_joint" type="fixed">
    <origin xyz="0.0 0.0 0.0" rpy="-1.5707963267948966 0.0 -1.5707963267948966" />
    <parent link="D435i_camera_depth_frame" />
    <child link="D435i_camera_depth_optical_frame" />
  </joint>
  <link name="D435i_camera_depth_optical_frame" />
  <joint name="D435i_camera_left_ir_joint" type="fixed">
    <origin xyz="0.0 0.0 0.0" rpy="0.0 0.0 0.0" />
    <parent link="D435i_camera_depth_frame" />
    <child link="D435i_camera_left_ir_frame" />
  </joint>
  <link name="D435i_camera_left_ir_frame" />
  <joint name="D435i_camera_left_ir_optical_joint" type="fixed">
    <origin xyz="0.0 0.0 0.0" rpy="-1.5707963267948966 0.0 -1.5707963267948966" />
    <parent link="D435i_camera_left_ir_frame" />
    <child link="D435i_camera_left_ir_optical_frame" />
  </joint>
  <link name="D435i_camera_left_ir_optical_frame" />
  <joint name="D435i_camera_right_ir_joint" type="fixed">
    <origin xyz="0.0 -0.05 0.0" rpy="0.0 0.0 0.0" />
    <parent link="D435i_camera_depth_frame" />
    <child link="D435i_camera_right_ir_frame" />
  </joint>
  <link name="D435i_camera_right_ir_frame" />
  <joint name="D435i_camera_right_ir_optical_joint" type="fixed">
    <origin xyz="0.0 0.0 0.0" rpy="-1.5707963267948966 0.0 -1.5707963267948966" />
    <parent link="D435i_camera_right_ir_frame" />
    <child link="D435i_camera_right_ir_optical_frame" />
  </joint>
  <link name="D435i_camera_right_ir_optical_frame" />
  <joint name="D435i_camera_color_joint" type="fixed">
    <origin xyz="0.0 0.015 0.0" rpy="0.0 0.0 0.0" />
    <parent link="D435i_camera_depth_frame" />
    <child link="D435i_camera_color_frame" />
  </joint>
  <link name="D435i_camera_color_frame" />
  <joint name="D435i_camera_color_optical_joint" type="fixed">
    <origin xyz="0.0 0.0 0.0" rpy="-1.5707963267948966 0.0 -1.5707963267948966" />
    <parent link="D435i_camera_color_frame" />
    <child link="D435i_camera_color_optical_frame" />
  </joint>
  <link name="D435i_camera_color_optical_frame" />
  <joint name="D435i_camera_accel_joint" type="fixed">
    <origin xyz="-0.00174 0.00552 0.0176" rpy="0.0 0.0 0.0" />
    <parent link="D435i_camera_link" />
    <child link="D435i_camera_accel_frame" />
  </joint>
  <link name="D435i_camera_accel_frame" />
  <joint name="D435i_camera_accel_optical_joint" type="fixed">
    <origin xyz="0.0 0.0 0.0" rpy="-1.5707963267948966 0.0 -1.5707963267948966" />
    <parent link="D435i_camera_accel_frame" />
    <child link="D435i_camera_accel_optical_frame" />
  </joint>
  <link name="D435i_camera_accel_optical_frame" />
  <joint name="D435i_camera_gyro_joint" type="fixed">
    <origin xyz="-0.00174 0.00552 0.0176" rpy="0.0 0.0 0.0" />
    <parent link="D435i_camera_link" />
    <child link="D435i_camera_gyro_frame" />
  </joint>
  <link name="D435i_camera_gyro_frame" />
  <joint name="D435i_camera_gyro_optical_joint" type="fixed">
    <origin xyz="0.0 0.0 0.0" rpy="-1.5707963267948966 0.0 -1.5707963267948966" />
    <parent link="D435i_camera_gyro_frame" />
    <child link="D435i_camera_gyro_optical_frame" />
  </joint>
  <link name="D435i_camera_gyro_optical_frame" />
  <gazebo reference="D435i_camera_link">
    <self_collide>0</self_collide>
    <enable_wind>0</enable_wind>
    <kinematic>0</kinematic>
    <mu2>1</mu2>
    <fdir1>0 0 0</fdir1>
    <kp>1e+13</kp>
    <kd>1</kd>
    <sensor name="D435i_cameracolor" type="camera">
      <camera name="D435i_camera">
        <horizontal_fov>1.2112585008840648</horizontal_fov>
        <image>
          <width>1280</width>
          <height>720</height>
          <format>RGB_INT8</format>
        </image>
        <clip>
          <near>0.1</near>
          <far>100</far>
        </clip>
        <noise>
          <type>gaussian</type>
          <mean>0.0</mean>
          <stddev>0.007</stddev>
        </noise>
      </camera>
      <always_on>1</always_on>
      <update_rate>30</update_rate>
      <visualize>True</visualize>
    </sensor>
    <sensor name="D435i_cameraired1" type="camera">
      <camera name="D435i_camera">
        <horizontal_fov>1.4870205226991688</horizontal_fov>
        <image>
          <width>1280</width>
          <height>720</height>
          <format>L_INT8</format>
        </image>
        <clip>
          <near>0.1</near>
          <far>100</far>
        </clip>
        <noise>
          <type>gaussian</type>
          <mean>0.0</mean>
          <stddev>0.05</stddev>
        </noise>
      </camera>
      <always_on>1</always_on>
      <update_rate>90</update_rate>
      <visualize>false</visualize>
    </sensor>
    <sensor name="D435i_cameraired2" type="camera">
      <camera name="D435i_camera">
        <horizontal_fov>1.4870205226991688</horizontal_fov>
        <image>
          <width>1280</width>
          <height>720</height>
          <format>L_INT8</format>
        </image>
        <clip>
          <near>0.1</near>
          <far>100</far>
        </clip>
        <noise>
          <type>gaussian</type>
          <mean>0.0</mean>
          <stddev>0.05</stddev>
        </noise>
      </camera>
      <always_on>1</always_on>
      <update_rate>90</update_rate>
      <visualize>false</visualize>
    </sensor>
    <sensor name="D435i_cameradepth" type="depth">
      <camera name="D435i_camera">
        <horizontal_fov>1.2112585008840648</horizontal_fov>
        <image>
          <width>1280</width>
          <height>720</height>
        </image>
        <clip>
          <near>0.1</near>
          <far>100</far>
        </clip>
        <noise>
          <type>gaussian</type>
          <mean>0.0</mean>
          <stddev>0.100</stddev>
        </noise>
      </camera>
      <always_on>1</always_on>
      <update_rate>30</update_rate>
      <visualize>false</visualize>
    </sensor>
    <sensor name="D435i_cameraaccel" type="imu">
      <always_on>true</always_on>
      <update_rate>300</update_rate>
      <topic>D435i_camera/accel/sample</topic>
      <plugin filename="librealsense_gazebo_accel_sensor.so" name="D435i_camera_accel_plugin">
        <topicName>D435i_camera/accel/sample</topicName>
        <bodyName>D435i_camera_link</bodyName>
        <updateRateHZ>300</updateRateHZ>
        <gaussianNoise>0.1</gaussianNoise>
        <xyzOffset>0 0 0</xyzOffset>
        <rpyOffset>0 0 0</rpyOffset>
        <frameName>D435i_camera_accel_optical_frame</frameName>
        <initialOrientationAsReference>false</initialOrientationAsReference>
      </plugin>
      <pose>0 0 0 0 0 0</pose>
    </sensor>
    <sensor name="D435i_cameragyro" type="imu">
      <always_on>true</always_on>
      <update_rate>300</update_rate>
      <topic>D435i_camera/gyro/sample</topic>
      <plugin filename="librealsense_gazebo_gyro_sensor.so" name="D435i_camera_gyro_plugin">
        <topicName>D435i_camera/gyro/sample</topicName>
        <bodyName>D435i_camera_link</bodyName>
        <updateRateHZ>300</updateRateHZ>
        <gaussianNoise>0.1</gaussianNoise>
        <xyzOffset>0 0 0</xyzOffset>
        <rpyOffset>0 0 0</rpyOffset>
        <frameName>D435i_camera_gyro_optical_frame</frameName>
        <initialOrientationAsReference>false</initialOrientationAsReference>
      </plugin>
    </sensor>
  </gazebo>
  <gazebo>
    <plugin filename="librealsense_gazebo_plugin.so" name="D435i_camera">
      <prefix>D435i_camera</prefix>
      <colorUpdateRate>30</colorUpdateRate>
      <colorTopicName>color/image_raw</colorTopicName>
      <colorOpticalframeName>D435i_camera_color_optical_frame</colorOpticalframeName>
      <colorCameraInfoTopicName>color/camera_info</colorCameraInfoTopicName>
      <infraredUpdateRate>90</infraredUpdateRate>
      <infrared1TopicName>infra1/image_rect_raw</infrared1TopicName>
      <infrared2TopicName>infra2/image_rect_raw</infrared2TopicName>
      <infrared1CameraInfoTopicName>infra1/camera_info</infrared1CameraInfoTopicName>
      <infrared2CameraInfoTopicName>infra2/camera_info</infrared2CameraInfoTopicName>
      <infrared1OpticalframeName>D435i_camera_left_ir_optical_frame</infrared1OpticalframeName>
      <infrared2OpticalframeName>D435i_camera_right_ir_optical_frame</infrared2OpticalframeName>
      <rangeMinDepth>0.2</rangeMinDepth>
      <rangeMaxDepth>10.0</rangeMaxDepth>
      <depthUpdateRate>30</depthUpdateRate>
      <depthTopicName>aligned_depth_to_color/image_raw</depthTopicName>
      <depthCameraInfoTopicName>aligned_depth_to_color/camera_info</depthCameraInfoTopicName>
      <depthOpticalframeName>D435i_camera_color_optical_frame</depthOpticalframeName>
      <pointCloud>True</pointCloud>
      <pointCloudTopicName>depth/color/points</pointCloudTopicName>
      <pointCloudCutoff>0.5</pointCloudCutoff>
    </plugin>
  </gazebo>
  <material name="T265_camera_aluminum">
    <color rgba="0.5 0.5 0.5 1.0" />
  </material>
  <joint name="T265_camera_pose_joint" type="fixed">
    <origin xyz="0.29245 0.00775 0.063" rpy="0.0 0.0 0.0" />
    <parent link="pelvis" />
    <child link="T265_camera_pose_frame" />
  </joint>
  <link name="T265_camera_pose_frame">
    <inertial>
      <origin xyz="0.0 0.0 0.0" rpy="0.0 0.0 0.0" />
      <mass value="0.068024" />
      <inertia ixx="3.9782e-06" ixy="0.0" ixz="3.4641e-08" iyy="6.5045e-05" iyz="0.0" izz="6.7499e-05" />
    </inertial>
    <visual>
      <origin xyz="0.0 0.0 0.0" rpy="1.5707963267948966 0.0 1.5707963267948966" />
      <geometry>
        <mesh filename="package://realsense_gazebo_description/meshes/t265_full.stl" scale="0.001 0.001 0.001" />
      </geometry>
      <material name="T265_camera_aluminum" />
    </visual>
    <collision name="T265_camera_pose_frame">
      <origin xyz="-0.0064037350000000015 -0.008331499999999999 7.158999999999612e-06" rpy="1.5683956607269751 0.002431176166064703 -3.128964044931256" />
      <geometry>
        <cylinder radius="0.0142751" length="0.1022528557886848" />
      </geometry>
    </collision>
  <collision_checking><capsule name="T265_camera_pose_frame" /></collision_checking></link>
  <joint name="T265_camera_link_joint" type="fixed">
    <origin xyz="0.0 0.0 0.0" rpy="1.5707963267948966 0.0 -1.5707963267948966" />
    <parent link="T265_camera_pose_frame" />
    <child link="T265_camera_link" />
  </joint>
  <link name="T265_camera_link" />
  <joint name="T265_camera_fisheye1_rgb_joint" type="fixed">
    <origin xyz="-0.0411 0.0 0.0" rpy="0.0 1.5707963267948966 1.5707963267948966" />
    <parent link="T265_camera_link" />
    <child link="T265_camera_fisheye1_rgb_frame" />
  </joint>
  <link name="T265_camera_fisheye1_rgb_frame" />
  <joint name="T265_camera_fisheye2_rgb_joint" type="fixed">
    <origin xyz="0.0229 0.0 0.0" rpy="0.0 1.5707963267948966 1.5707963267948966" />
    <parent link="T265_camera_link" />
    <child link="T265_camera_fisheye2_rgb_frame" />
  </joint>
  <link name="T265_camera_fisheye2_rgb_frame" />
  <joint name="T265_camera_fisheye1_optical_joint" type="fixed">
    <origin xyz="0.0 0.0 0.0" rpy="-1.5707963267948966 0.0 -1.5707963267948966" />
    <parent link="T265_camera_fisheye1_rgb_frame" />
    <child link="T265_camera_fisheye1_optical_frame" />
  </joint>
  <link name="T265_camera_fisheye1_optical_frame" />
  <joint name="T265_camera_fisheye2_optical_joint" type="fixed">
    <origin xyz="0.0 0.0 0.0" rpy="-1.5707963267948966 0.0 -1.5707963267948966" />
    <parent link="T265_camera_fisheye2_rgb_frame" />
    <child link="T265_camera_fisheye2_optical_frame" />
  </joint>
  <link name="T265_camera_fisheye2_optical_frame" />
  <joint name="T265_camera_accel_joint" type="fixed">
    <origin xyz="-0.0311 0.0 0.00655" rpy="0.0 3.141592653589793 0.0" />
    <parent link="T265_camera_link" />
    <child link="T265_camera_accel_frame" />
  </joint>
  <link name="T265_camera_accel_frame" />
  <joint name="T265_camera_accel_optical_joint" type="fixed">
    <origin xyz="-0.0311 0.0 0.00655" rpy="0.0 3.141592653589793 0.0" />
    <parent link="T265_camera_accel_frame" />
    <child link="T265_camera_accel_optical_frame" />
  </joint>
  <link name="T265_camera_accel_optical_frame" />
  <joint name="T265_camera_gyro_joint" type="fixed">
    <origin xyz="-0.0311 0.0 0.00655" rpy="0.0 3.141592653589793 0.0" />
    <parent link="T265_camera_link" />
    <child link="T265_camera_gyro_frame" />
  </joint>
  <link name="T265_camera_gyro_frame" />
  <joint name="T265_camera_gyro_optical_joint" type="fixed">
    <origin xyz="0.0 0.0 0.0" rpy="0.0 0.0 0.0" />
    <parent link="T265_camera_gyro_frame" />
    <child link="T265_camera_gyro_optical_frame" />
  </joint>
  <link name="T265_camera_gyro_optical_frame" />
  <gazebo reference="T265_camera_fisheye1_rgb_frame">
    <self_collide>0</self_collide>
    <enable_wind>0</enable_wind>
    <kinematic>0</kinematic>
    <mu2>1</mu2>
    <fdir1>0 0 0</fdir1>
    <kp>1e+13</kp>
    <kd>1</kd>
    <sensor name="T265_camerafisheye1" type="wideanglecamera">
      <update_rate>30</update_rate>
      <camera>
        <horizontal_fov>1.95</horizontal_fov>
        <image>
          <width>848</width>
          <height>800</height>
        </image>
        <clip>
          <near>0.2</near>
          <far>100</far>
        </clip>
        <lens>
          <type>orthographic</type>
          <scale_to_hfov>true</scale_to_hfov>
          <cutoff_angle>2.20</cutoff_angle>
          <env_texture_size>1024</env_texture_size>
        </lens>
      </camera>
      <plugin filename="libgazebo_ros_camera.so" name="T265_camerafisheye1">
        <alwaysOn>true</alwaysOn>
        <updateRate>30</updateRate>
        <cameraName>T265/T265_camera/fisheye1</cameraName>
        <imageTopicName>image_raw</imageTopicName>
        <cameraInfoTopicName>camera_info</cameraInfoTopicName>
        <frameName>T265_camera_fisheye1_optical_frame</frameName>
        <hackBaseline>0.07</hackBaseline>
        <distortionK1>-0.00040996368625201285</distortionK1>
        <distortionK2>0.03653175011277199</distortionK2>
        <distortionK3>0.0</distortionK3>
        <distortionP1>-0.034823670983314514</distortionP1>
        <distortionP2>0.0052825710736215115</distortionP2>
        <Cx>416.22</Cx>
        <Cy>402.1</Cy>
        <CxPrime>416.22</CxPrime>
      </plugin>
    </sensor>
  </gazebo>
  <gazebo reference="T265_camera_fisheye2_rgb_frame">
    <self_collide>0</self_collide>
    <enable_wind>0</enable_wind>
    <kinematic>0</kinematic>
    <mu2>1</mu2>
    <fdir1>0 0 0</fdir1>
    <kp>1e+13</kp>
    <kd>1</kd>
    <sensor name="T265_camerafisheye2" type="wideanglecamera">
      <update_rate>30</update_rate>
      <camera>
        <horizontal_fov>2.84</horizontal_fov>
        <image>
          <width>848</width>
          <height>800</height>
        </image>
        <clip>
          <near>0.1</near>
          <far>100</far>
        </clip>
        <lens>
          <type>orthographic</type>
          <scale_to_hfov>true</scale_to_hfov>
          <cutoff_angle>2.20</cutoff_angle>
          <env_texture_size>1024</env_texture_size>
        </lens>
      </camera>
      <always_on>1</always_on>
      <plugin filename="libgazebo_ros_camera.so" name="T265_camerafisheye2">
        <alwaysOn>true</alwaysOn>
        <updateRate>30</updateRate>
        <cameraName>T265/T265_camera/fisheye2</cameraName>
        <imageTopicName>image_raw</imageTopicName>
        <cameraInfoTopicName>camera_info</cameraInfoTopicName>
        <frameName>T265_camera_fisheye2_optical_frame</frameName>
        <hackBaseline>0.07</hackBaseline>
        <distortionK1>-0.00040996368625201285</distortionK1>
        <distortionK2>0.03653175011277199</distortionK2>
        <distortionK3>0.0</distortionK3>
        <distortionP1>-0.034823670983314514</distortionP1>
        <distortionP2>0.0052825710736215115</distortionP2>
      </plugin>
    </sensor>
    <sensor name="T265_cameraaccel" type="imu">
      <always_on>true</always_on>
      <update_rate>62.5</update_rate>
      <plugin filename="librealsense_gazebo_accel_sensor.so" name="T265/T265_camera_accel_plugin">
        <topicName>T265_camera/accel/sample</topicName>
        <bodyName>T265_camera_pose_frame</bodyName>
        <updateRateHZ>62.5</updateRateHZ>
        <gaussianNoise>0.1</gaussianNoise>
        <xyzOffset>0 0 0</xyzOffset>
        <rpyOffset>0 0 0</rpyOffset>
        <frameName>T265_camera_accel_optical_frame</frameName>
        <initialOrientationAsReference>false</initialOrientationAsReference>
      </plugin>
      <pose>0 0 0 0 0 0</pose>
    </sensor>
    <sensor name="T265_cameragyro" type="imu">
      <always_on>true</always_on>
      <update_rate>200</update_rate>
      <topic>T265/T265_camera/gyro/sample</topic>
      <plugin filename="librealsense_gazebo_gyro_sensor.so" name="T265/T265_camera_gyro_plugin">
        <topicName>T265_camera/gyro/sample</topicName>
        <bodyName>T265_camera_pose_frame</bodyName>
        <updateRateHZ>200</updateRateHZ>
        <gaussianNoise>0.1</gaussianNoise>
        <xyzOffset>0 0 0</xyzOffset>
        <rpyOffset>0 0 0</rpyOffset>
        <frameName>T265_camera_gyro_optical_frame</frameName>
        <initialOrientationAsReference>false</initialOrientationAsReference>
      </plugin>
    </sensor>
  </gazebo>
  <gazebo>
    <plugin filename="libgazebo_ros_p3d.so" name="p3d_base_controller">
      <alwaysOn>true</alwaysOn>
      <updateRate>262</updateRate>
      <bodyName>T265_camera_pose_frame</bodyName>
      <topicName>T265/T265_camera/odom/sample</topicName>
      <gaussianNoise>0.01</gaussianNoise>
      <frameName>world</frameName>
      <xyzOffsets>0.0 0.0 0.25</xyzOffsets>
      <rpyOffsets>0.0 0.0 0.0</rpyOffsets>
    </plugin>
  </gazebo>
  <link name="hip1_1">
    <inertial>
      <origin xyz="0.0003595855 0.033338818000000006 -0.059190309" rpy="0.0 0.0 0.0" />
      <mass value="2.3349153" />
      <inertia ixx="0.0068405374" ixy="1.8572633e-05" ixz="-4.8325972e-05" iyy="0.0026261815" iyz="0.0001564273" izz="0.0066933354" />
    </inertial>
    <visual>
      <origin xyz="0.0 0.0 0.0" rpy="0.0 0.0 0.0" />
      <geometry>
        <mesh filename="package://centauro_urdf/meshes/v2/hip-yaw.stl" scale="0.001 -0.001 0.001" />
      </geometry>
      <material name="dark_grey" />
    </visual>
    <collision name="hip1_1">
      <origin xyz="0.000123454 -0.011949659999999999 -0.0631367" rpy="-1.2794257859148763 0.011059385729693427 -0.008229300412466476" />
      <geometry>
        <cylinder radius="0.0747223" length="0.03069545889898954" />
      </geometry>
    </collision>
  <collision_checking><capsule name="hip1_1" /></collision_checking></link>
  <link name="hip2_1">
    <inertial>
      <origin xyz="-4.6285952e-06 -0.2214019 0.03316685" rpy="0.0 0.0 0.0" />
      <mass value="3.4572118" />
      <inertia ixx="0.050469853" ixy="-7.784938699999999e-06" ixz="-9.220580999999999e-06" iyy="0.008181596999999999" iyz="0.0059796848" izz="0.048213808999999996" />
    </inertial>
    <visual>
      <origin xyz="0.0 0.0 0.0" rpy="0.0 0.0 0.0" />
      <geometry>
        <mesh filename="package://centauro_urdf/meshes/v2/hip-pitch.stl" scale="0.001 0.001 -0.001" />
      </geometry>
    </visual>
    <collision name="hip2_1">
      <origin xyz="1.10696985e-06 -0.13974034 0.0170087" rpy="-1.590922320366177 -7.24562306920002e-06 7.392935812695044e-06" />
      <geometry>
        <cylinder radius="0.0808941" length="0.2919804521727749" />
      </geometry>
    </collision>
  <collision_checking><capsule name="hip2_1" /></collision_checking></link>
  <link name="knee_1">
    <inertial>
      <origin xyz="0.00012063381 0.14620674 0.029740711000000003" rpy="0.0 0.0 0.0" />
      <mass value="2.1199315" />
      <inertia ixx="0.018426402999999997" ixy="2.8226635999999997e-05" ixz="-2.9204348e-05" iyy="0.0047685615" iyz="-0.002640771" izz="0.017793722" />
    </inertial>
    <visual>
      <origin xyz="0.0 0.0 0.0" rpy="0.0 0.0 0.0" />
      <geometry>
        <mesh filename="package://centauro_urdf/meshes/v2/knee.stl" scale="0.001 0.001 -0.001" />
      </geometry>
      <material name="dark_grey" />
    </visual>
    <collision name="knee_1">
      <origin xyz="-4.076516e-06 0.0958646315 0.014374499999999998" rpy="-1.6091143483828545 -4.051216032610466e-05 4.20950259773918e-05" />
      <geometry>
        <cylinder radius="0.0664305" length="0.1927502246061244" />
      </geometry>
    </collision>
  <collision_checking><capsule name="knee_1" /></collision_checking></link>
  <link name="ankle1_1">
    <inertial>
      <origin xyz="0.00012360094 -0.06274712 -0.0049068453" rpy="0.0 0.0 0.0" />
      <mass value="1.4023368" />
      <inertia ixx="0.0049928829" ixy="5.762355699999999e-06" ixz="1.9606394e-05" iyy="0.0017621464" iyz="0.00045315091" izz="0.0048706328" />
    </inertial>
    <visual>
      <origin xyz="0.0 0.0 0.0" rpy="0.0 0.0 0.0" />
      <geometry>
        <mesh filename="package://centauro_urdf/meshes/v2/ankle-pitch.stl" scale="0.001 0.001 -0.001" />
      </geometry>
    </visual>
    <collision name="ankle1_1">
      <origin xyz="-3.39946e-05 -0.0238355765 -1.2084000000000002e-05" rpy="1.5740621233399696 0.0004934392809863637 0.0004950533903306543" />
      <geometry>
        <cylinder radius="0.0792379" length="0.049256315666076876" />
      </geometry>
    </collision>
  <collision_checking><capsule name="ankle1_1" /></collision_checking></link>
  <link name="ankle2_1">
    <inertial>
      <origin xyz="0.0018496706 -0.00051322371 -0.06730924" rpy="0.0 0.0 0.0" />
      <mass value="1.7656714" />
      <inertia ixx="0.0073976286" ixy="9.7557687e-07" ixz="-0.0002295255" iyy="0.0054434358" iyz="3.6337754e-05" izz="0.0043055053" />
    </inertial>
    <visual>
      <origin xyz="0.0 0.0 0.0" rpy="0.0 0.0 0.0" />
      <geometry>
        <mesh filename="package://centauro_urdf/meshes/v2/ankle-yaw.stl" scale="0.001 -0.001 0.001" />
      </geometry>
      <material name="dark_grey" />
    </visual>
    <collision name="ankle2_1">
      <origin xyz="-1.177807e-05 -0.001827005 -0.0652808" rpy="3.1390989814835946 0.0002409935691509803 0.1926856017007952" />
      <geometry>
        <cylinder radius="0.0813545" length="0.07370263129636398" />
      </geometry>
    </collision>
  <collision_checking><capsule name="ankle2_1" /></collision_checking></link>
  <link name="wheel_1">
    <inertial>
      <origin xyz="0.0 0.0 -0.0031155904" rpy="0.0 0.0 0.0" />
      <mass value="1.11164" />
      <inertia ixx="0.0028174054" ixy="0.0" ixz="-0.0" iyy="0.0028175648" iyz="-0.0" izz="0.0041817161999999995" />
    </inertial>
    <visual>
      <origin xyz="0.0 0.0 0.0" rpy="0.0 0.0 0.0" />
      <geometry>
        <mesh filename="package://centauro_urdf/meshes/v2/wheel.stl" scale="0.001 0.001 -0.001" />
      </geometry>
      <material name="black" />
    </visual>
    <collision name="wheel_1">
      <origin xyz="0.0 0.0 0.0" rpy="0.0 0.0 0.0" />
      <geometry>
        <cylinder radius="0.078" length="0.11" />
      </geometry>
    </collision>
  <collision_checking><capsule name="wheel_1" /></collision_checking></link>
  <link name="contact_1" />
  <joint name="contact_joint_1" type="fixed">
    <origin xyz="0.0 0.0 -0.176" rpy="0.0 0.0 0.0" />
    <parent link="ankle2_1" />
    <child link="contact_1" />
  </joint>
  <joint name="hip_yaw_1" type="revolute">
    <origin xyz="0.25 0.125 -0.056600000000000004" rpy="0.0 0.0 0.0" />
    <axis xyz="0.0 0.0 -1.0" />
    <parent link="pelvis" />
    <child link="hip1_1" />
    <limit effort="304.0" lower="-2.03" upper="2.51" velocity="8.8" />
  </joint>
  <joint name="hip_pitch_1" type="revolute">
    <origin xyz="0.0 0.1146 -0.0625" rpy="1.57079632679 0.0 0.0" />
    <axis xyz="0.0 0.0 -1.0" />
    <parent link="hip1_1" />
    <child link="hip2_1" />
    <limit effort="304.0" lower="-2.0226" upper="2.02748" velocity="8.8" />
  </joint>
  <joint name="knee_pitch_1" type="revolute">
    <origin xyz="0.0 -0.3 0.1182" rpy="3.14159265359 0.0 0.0" />
    <axis xyz="0.0 0.0 -1.0" />
    <parent link="hip2_1" />
    <child link="knee_1" />
    <limit effort="304.0" lower="-2.4056" upper="2.3994" velocity="8.8" />
  </joint>
  <joint name="ankle_pitch_1" type="revolute">
    <origin xyz="0.0 0.2 0.10015" rpy="3.14159265359 0.0 0.0" />
    <axis xyz="0.0 0.0 -1.0" />
    <parent link="knee_1" />
    <child link="ankle1_1" />
    <limit effort="147.0" lower="-2.4056" upper="2.3184" velocity="8.1" />
  </joint>
  <joint name="ankle_yaw_1" type="revolute">
    <origin xyz="0.0 -0.139 -0.00085" rpy="-1.57079632679 0.0 0.0" />
    <axis xyz="0.0 0.0 -1.0" />
    <parent link="ankle1_1" />
    <child link="ankle2_1" />
    <limit effort="35.0" lower="-2.5626" upper="2.5384" velocity="20.0" />
  </joint>
  <joint name="j_wheel_1" type="continuous">
    <origin xyz="0.0 -0.0 -0.09834999999999999" rpy="1.57079632679 0.0 0.0" />
    <axis xyz="0.0 0.0 -1.0" />
    <parent link="ankle2_1" />
    <child link="wheel_1" />
    <limit effort="35.0" lower="0.0" upper="0.0" velocity="20.0" />
  </joint>
  <link name="hip1_2">
    <inertial>
      <origin xyz="0.0003595855 -0.033338818000000006 -0.059190309" rpy="0.0 0.0 0.0" />
      <mass value="2.3349153" />
      <inertia ixx="0.0068405374" ixy="-1.8572633e-05" ixz="-4.8325972e-05" iyy="0.0026261815" iyz="-0.0001564273" izz="0.0066933354" />
    </inertial>
    <visual>
      <origin xyz="0.0 0.0 0.0" rpy="0.0 0.0 0.0" />
      <geometry>
        <mesh filename="package://centauro_urdf/meshes/v2/hip-yaw.stl" scale="0.001 0.001 0.001" />
      </geometry>
      <material name="dark_grey" />
    </visual>
    <collision name="hip1_2">
      <origin xyz="0.000123454 0.011949659999999999 -0.0631367" rpy="1.2794257859148763 0.011059385729693427 0.008229300412466476" />
      <geometry>
        <cylinder radius="0.0747223" length="0.03069545889898954" />
      </geometry>
    </collision>
  <collision_checking><capsule name="hip1_2" /></collision_checking></link>
  <link name="hip2_2">
    <inertial>
      <origin xyz="-4.6285952e-06 -0.2214019 -0.03316685" rpy="0.0 0.0 0.0" />
      <mass value="3.4572118" />
      <inertia ixx="0.050469853" ixy="-7.784938699999999e-06" ixz="9.220580999999999e-06" iyy="0.008181596999999999" iyz="-0.0059796848" izz="0.048213808999999996" />
    </inertial>
    <visual>
      <origin xyz="0.0 0.0 0.0" rpy="0.0 0.0 0.0" />
      <geometry>
        <mesh filename="package://centauro_urdf/meshes/v2/hip-pitch.stl" scale="0.001 0.001 0.001" />
      </geometry>
    </visual>
    <collision name="hip2_2">
      <origin xyz="1.10696985e-06 -0.13974034 -0.0170087" rpy="-1.5506703332236162 -7.245623069200021e-06 7.101245701440088e-06" />
      <geometry>
        <cylinder radius="0.0808941" length="0.2919804521727749" />
      </geometry>
    </collision>
  <collision_checking><capsule name="hip2_2" /></collision_checking></link>
  <link name="knee_2">
    <inertial>
      <origin xyz="0.00012063381 0.14620674 -0.029740711000000003" rpy="0.0 0.0 0.0" />
      <mass value="2.1199315" />
      <inertia ixx="0.018426402999999997" ixy="2.8226635999999997e-05" ixz="2.9204348e-05" iyy="0.0047685615" iyz="0.002640771" izz="0.017793722" />
    </inertial>
    <visual>
      <origin xyz="0.0 0.0 0.0" rpy="0.0 0.0 0.0" />
      <geometry>
        <mesh filename="package://centauro_urdf/meshes/v2/knee.stl" scale="0.001 0.001 0.001" />
      </geometry>
      <material name="dark_grey" />
    </visual>
    <collision name="knee_2">
      <origin xyz="-4.076516e-06 0.0958646315 -0.014374499999999998" rpy="-1.5324783052069388 -4.0512160326104654e-05 3.898881390804118e-05" />
      <geometry>
        <cylinder radius="0.0664305" length="0.1927502246061244" />
      </geometry>
    </collision>
  <collision_checking><capsule name="knee_2" /></collision_checking></link>
  <link name="ankle1_2">
    <inertial>
      <origin xyz="0.00012360094 -0.06274712 0.0049068453" rpy="0.0 0.0 0.0" />
      <mass value="1.4023368" />
      <inertia ixx="0.0049928829" ixy="5.762355699999999e-06" ixz="-1.9606394e-05" iyy="0.0017621464" iyz="-0.00045315091" izz="0.0048706328" />
    </inertial>
    <visual>
      <origin xyz="0.0 0.0 0.0" rpy="0.0 0.0 0.0" />
      <geometry>
        <mesh filename="package://centauro_urdf/meshes/v2/ankle-pitch.stl" scale="0.001 0.001 0.001" />
      </geometry>
    </visual>
    <collision name="ankle1_2">
      <origin xyz="2.260750000000002e-07 -0.020764664999999998 0.00010889250000000001" rpy="-1.5912124973162882 0.00029736394117794144 -0.00030349780205160657" />
      <geometry>
        <cylinder radius="0.0781037" length="0.04788405128558378" />
      </geometry>
    </collision>
  <collision_checking><capsule name="ankle1_2" /></collision_checking></link>
  <link name="ankle2_2">
    <inertial>
      <origin xyz="0.0018496706 0.00051322371 -0.06730924" rpy="0.0 0.0 0.0" />
      <mass value="1.7656714" />
      <inertia ixx="0.0073976286" ixy="-9.7557687e-07" ixz="-0.0002295255" iyy="0.0054434358" iyz="-3.6337754e-05" izz="0.0043055053" />
    </inertial>
    <visual>
      <origin xyz="0.0 0.0 0.0" rpy="0.0 0.0 0.0" />
      <geometry>
        <mesh filename="package://centauro_urdf/meshes/v2/ankle-yaw.stl" scale="0.001 0.001 0.001" />
      </geometry>
      <material name="dark_grey" />
    </visual>
    <collision name="ankle2_2">
      <origin xyz="-1.177807e-05 0.001827005 -0.0652808" rpy="-3.1390989814835946 0.0002409935691509803 -0.1926856017007952" />
      <geometry>
        <cylinder radius="0.0813545" length="0.07370263129636398" />
      </geometry>
    </collision>
  <collision_checking><capsule name="ankle2_2" /></collision_checking></link>
  <link name="wheel_2">
    <inertial>
      <origin xyz="0.0 0.0 0.0031155904" rpy="0.0 0.0 0.0" />
      <mass value="1.11164" />
      <inertia ixx="0.0028174054" ixy="0.0" ixz="0.0" iyy="0.0028175648" iyz="0.0" izz="0.0041817161999999995" />
    </inertial>
    <visual>
      <origin xyz="0.0 0.0 0.0" rpy="0.0 0.0 0.0" />
      <geometry>
        <mesh filename="package://centauro_urdf/meshes/v2/wheel.stl" scale="0.001 0.001 0.001" />
      </geometry>
      <material name="black" />
    </visual>
    <collision name="wheel_2">
      <origin xyz="0.0 0.0 0.0" rpy="0.0 0.0 0.0" />
      <geometry>
        <cylinder radius="0.078" length="0.11" />
      </geometry>
    </collision>
  <collision_checking><capsule name="wheel_2" /></collision_checking></link>
  <link name="contact_2" />
  <joint name="contact_joint_2" type="fixed">
    <origin xyz="0.0 0.0 -0.176" rpy="0.0 0.0 0.0" />
    <parent link="ankle2_2" />
    <child link="contact_2" />
  </joint>
  <joint name="hip_yaw_2" type="revolute">
    <origin xyz="0.25 -0.125 -0.056600000000000004" rpy="0.0 0.0 0.0" />
    <axis xyz="0.0 0.0 -1.0" />
    <parent link="pelvis" />
    <child link="hip1_2" />
    <limit effort="304.0" lower="-2.51" upper="2.03" velocity="8.8" />
  </joint>
  <joint name="hip_pitch_2" type="revolute">
    <origin xyz="0.0 -0.1146 -0.0625" rpy="1.57079632679 0.0 0.0" />
    <axis xyz="0.0 0.0 1.0" />
    <parent link="hip1_2" />
    <child link="hip2_2" />
    <limit effort="304.0" lower="-2.0156" upper="2.0354" velocity="8.8" />
  </joint>
  <joint name="knee_pitch_2" type="revolute">
    <origin xyz="0.0 -0.3 -0.1182" rpy="3.14159265359 0.0 0.0" />
    <axis xyz="0.0 0.0 1.0" />
    <parent link="hip2_2" />
    <child link="knee_2" />
    <limit effort="304.0" lower="-2.4006" upper="2.4034" velocity="8.8" />
  </joint>
  <joint name="ankle_pitch_2" type="revolute">
    <origin xyz="0.0 0.2 -0.10015" rpy="3.14159265359 0.0 0.0" />
    <axis xyz="0.0 0.0 1.0" />
    <parent link="knee_2" />
    <child link="ankle1_2" />
    <limit effort="147.0" lower="-2.3266" upper="2.3914" velocity="8.1" />
  </joint>
  <joint name="ankle_yaw_2" type="revolute">
    <origin xyz="0.0 -0.139 0.00085" rpy="-1.57079632679 0.0 0.0" />
    <axis xyz="0.0 0.0 -1.0" />
    <parent link="ankle1_2" />
    <child link="ankle2_2" />
    <limit effort="35.0" lower="-2.5546" upper="2.5484" velocity="20.0" />
  </joint>
  <joint name="j_wheel_2" type="continuous">
    <origin xyz="0.0 0.0 -0.09834999999999999" rpy="1.57079632679 0.0 0.0" />
    <axis xyz="0.0 0.0 1.0" />
    <parent link="ankle2_2" />
    <child link="wheel_2" />
    <limit effort="35.0" lower="0.0" upper="0.0" velocity="20.0" />
  </joint>
  <link name="hip1_3">
    <inertial>
      <origin xyz="0.0003595855 0.033338818000000006 -0.059190309" rpy="0.0 0.0 0.0" />
      <mass value="2.3349153" />
      <inertia ixx="0.0068405374" ixy="1.8572633e-05" ixz="-4.8325972e-05" iyy="0.0026261815" iyz="0.0001564273" izz="0.0066933354" />
    </inertial>
    <visual>
      <origin xyz="0.0 0.0 0.0" rpy="0.0 0.0 0.0" />
      <geometry>
        <mesh filename="package://centauro_urdf/meshes/v2/hip-yaw.stl" scale="0.001 -0.001 0.001" />
      </geometry>
      <material name="dark_grey" />
    </visual>
    <collision name="hip1_3">
      <origin xyz="0.000123454 -0.011949659999999999 -0.0631367" rpy="-1.2794257859148763 0.011059385729693427 -0.008229300412466476" />
      <geometry>
        <cylinder radius="0.0747223" length="0.03069545889898954" />
      </geometry>
    </collision>
  <collision_checking><capsule name="hip1_3" /></collision_checking></link>
  <link name="hip2_3">
    <inertial>
      <origin xyz="-4.6285952e-06 -0.2214019 0.03316685" rpy="0.0 0.0 0.0" />
      <mass value="3.4572118" />
      <inertia ixx="0.050469853" ixy="-7.784938699999999e-06" ixz="-9.220580999999999e-06" iyy="0.008181596999999999" iyz="0.0059796848" izz="0.048213808999999996" />
    </inertial>
    <visual>
      <origin xyz="0.0 0.0 0.0" rpy="0.0 0.0 0.0" />
      <geometry>
        <mesh filename="package://centauro_urdf/meshes/v2/hip-pitch.stl" scale="0.001 0.001 -0.001" />
      </geometry>
    </visual>
    <collision name="hip2_3">
      <origin xyz="1.10696985e-06 -0.13974034 0.0170087" rpy="-1.590922320366177 -7.24562306920002e-06 7.392935812695044e-06" />
      <geometry>
        <cylinder radius="0.0808941" length="0.2919804521727749" />
      </geometry>
    </collision>
  <collision_checking><capsule name="hip2_3" /></collision_checking></link>
  <link name="knee_3">
    <inertial>
      <origin xyz="0.00012063381 0.14620674 0.029740711000000003" rpy="0.0 0.0 0.0" />
      <mass value="2.1199315" />
      <inertia ixx="0.018426402999999997" ixy="2.8226635999999997e-05" ixz="-2.9204348e-05" iyy="0.0047685615" iyz="-0.002640771" izz="0.017793722" />
    </inertial>
    <visual>
      <origin xyz="0.0 0.0 0.0" rpy="0.0 0.0 0.0" />
      <geometry>
        <mesh filename="package://centauro_urdf/meshes/v2/knee.stl" scale="0.001 0.001 -0.001" />
      </geometry>
      <material name="dark_grey" />
    </visual>
    <collision name="knee_3">
      <origin xyz="-4.076516e-06 0.0958646315 0.014374499999999998" rpy="-1.6091143483828545 -4.051216032610466e-05 4.20950259773918e-05" />
      <geometry>
        <cylinder radius="0.0664305" length="0.1927502246061244" />
      </geometry>
    </collision>
  <collision_checking><capsule name="knee_3" /></collision_checking></link>
  <link name="ankle1_3">
    <inertial>
      <origin xyz="0.00012360094 -0.06274712 -0.0049068453" rpy="0.0 0.0 0.0" />
      <mass value="1.4023368" />
      <inertia ixx="0.0049928829" ixy="5.762355699999999e-06" ixz="1.9606394e-05" iyy="0.0017621464" iyz="0.00045315091" izz="0.0048706328" />
    </inertial>
    <visual>
      <origin xyz="0.0 0.0 0.0" rpy="0.0 0.0 0.0" />
      <geometry>
        <mesh filename="package://centauro_urdf/meshes/v2/ankle-pitch.stl" scale="0.001 0.001 -0.001" />
      </geometry>
    </visual>
    <collision name="ankle1_3">
      <origin xyz="-3.39946e-05 -0.0238355765 -1.2084000000000002e-05" rpy="1.5740621233399696 0.0004934392809863637 0.0004950533903306543" />
      <geometry>
        <cylinder radius="0.0792379" length="0.049256315666076876" />
      </geometry>
    </collision>
  <collision_checking><capsule name="ankle1_3" /></collision_checking></link>
  <link name="ankle2_3">
    <inertial>
      <origin xyz="0.0018496706 -0.00051322371 -0.06730924" rpy="0.0 0.0 0.0" />
      <mass value="1.7656714" />
      <inertia ixx="0.0073976286" ixy="9.7557687e-07" ixz="-0.0002295255" iyy="0.0054434358" iyz="3.6337754e-05" izz="0.0043055053" />
    </inertial>
    <visual>
      <origin xyz="0.0 0.0 0.0" rpy="0.0 0.0 0.0" />
      <geometry>
        <mesh filename="package://centauro_urdf/meshes/v2/ankle-yaw.stl" scale="0.001 -0.001 0.001" />
      </geometry>
      <material name="dark_grey" />
    </visual>
    <collision name="ankle2_3">
      <origin xyz="-1.177807e-05 -0.001827005 -0.0652808" rpy="3.1390989814835946 0.0002409935691509803 0.1926856017007952" />
      <geometry>
        <cylinder radius="0.0813545" length="0.07370263129636398" />
      </geometry>
    </collision>
  <collision_checking><capsule name="ankle2_3" /></collision_checking></link>
  <link name="wheel_3">
    <inertial>
      <origin xyz="0.0 0.0 -0.0031155904" rpy="0.0 0.0 0.0" />
      <mass value="1.11164" />
      <inertia ixx="0.0028174054" ixy="0.0" ixz="-0.0" iyy="0.0028175648" iyz="-0.0" izz="0.0041817161999999995" />
    </inertial>
    <visual>
      <origin xyz="0.0 0.0 0.0" rpy="0.0 0.0 0.0" />
      <geometry>
        <mesh filename="package://centauro_urdf/meshes/v2/wheel.stl" scale="0.001 0.001 -0.001" />
      </geometry>
      <material name="black" />
    </visual>
    <collision name="wheel_3">
      <origin xyz="0.0 0.0 0.0" rpy="0.0 0.0 0.0" />
      <geometry>
        <cylinder radius="0.078" length="0.11" />
      </geometry>
    </collision>
  <collision_checking><capsule name="wheel_3" /></collision_checking></link>
  <link name="contact_3" />
  <joint name="contact_joint_3" type="fixed">
    <origin xyz="0.0 0.0 -0.176" rpy="0.0 0.0 0.0" />
    <parent link="ankle2_3" />
    <child link="contact_3" />
  </joint>
  <joint name="hip_yaw_3" type="revolute">
    <origin xyz="-0.25 0.125 -0.056600000000000004" rpy="0.0 0.0 0.0" />
    <axis xyz="0.0 0.0 -1.0" />
    <parent link="pelvis" />
    <child link="hip1_3" />
    <limit effort="304.0" lower="-2.51" upper="2.03" velocity="8.8" />
  </joint>
  <joint name="hip_pitch_3" type="revolute">
    <origin xyz="0.0 0.1146 -0.0625" rpy="1.57079632679 0.0 0.0" />
    <axis xyz="0.0 0.0 -1.0" />
    <parent link="hip1_3" />
    <child link="hip2_3" />
    <limit effort="304.0" lower="-2.0126" upper="2.0384" velocity="8.8" />
  </joint>
  <joint name="knee_pitch_3" type="revolute">
    <origin xyz="0.0 -0.3 0.1182" rpy="3.14159265359 0.0 0.0" />
    <axis xyz="0.0 0.0 -1.0" />
    <parent link="hip2_3" />
    <child link="knee_3" />
    <limit effort="304.0" lower="-2.4056" upper="2.4064" velocity="8.8" />
  </joint>
  <joint name="ankle_pitch_3" type="revolute">
    <origin xyz="0.0 0.2 0.10015" rpy="3.14159265359 0.0 0.0" />
    <axis xyz="0.0 0.0 -1.0" />
    <parent link="knee_3" />
    <child link="ankle1_3" />
    <limit effort="147.0" lower="-2.4696" upper="2.4464" velocity="8.1" />
  </joint>
  <joint name="ankle_yaw_3" type="revolute">
    <origin xyz="0.0 -0.139 -0.00085" rpy="-1.57079632679 0.0 0.0" />
    <axis xyz="0.0 0.0 -1.0" />
    <parent link="ankle1_3" />
    <child link="ankle2_3" />
    <limit effort="35.0" lower="-2.5606" upper="2.5454" velocity="20.0" />
  </joint>
  <joint name="j_wheel_3" type="continuous">
    <origin xyz="0.0 -0.0 -0.09834999999999999" rpy="1.57079632679 0.0 0.0" />
    <axis xyz="0.0 0.0 -1.0" />
    <parent link="ankle2_3" />
    <child link="wheel_3" />
    <limit effort="35.0" lower="0.0" upper="0.0" velocity="20.0" />
  </joint>
  <link name="hip1_4">
    <inertial>
      <origin xyz="0.0003595855 -0.033338818000000006 -0.059190309" rpy="0.0 0.0 0.0" />
      <mass value="2.3349153" />
      <inertia ixx="0.0068405374" ixy="-1.8572633e-05" ixz="-4.8325972e-05" iyy="0.0026261815" iyz="-0.0001564273" izz="0.0066933354" />
    </inertial>
    <visual>
      <origin xyz="0.0 0.0 0.0" rpy="0.0 0.0 0.0" />
      <geometry>
        <mesh filename="package://centauro_urdf/meshes/v2/hip-yaw.stl" scale="0.001 0.001 0.001" />
      </geometry>
      <material name="dark_grey" />
    </visual>
    <collision name="hip1_4">
      <origin xyz="0.000123454 0.011949659999999999 -0.0631367" rpy="1.2794257859148763 0.011059385729693427 0.008229300412466476" />
      <geometry>
        <cylinder radius="0.0747223" length="0.03069545889898954" />
      </geometry>
    </collision>
  <collision_checking><capsule name="hip1_4" /></collision_checking></link>
  <link name="hip2_4">
    <inertial>
      <origin xyz="-4.6285952e-06 -0.2214019 -0.03316685" rpy="0.0 0.0 0.0" />
      <mass value="3.4572118" />
      <inertia ixx="0.050469853" ixy="-7.784938699999999e-06" ixz="9.220580999999999e-06" iyy="0.008181596999999999" iyz="-0.0059796848" izz="0.048213808999999996" />
    </inertial>
    <visual>
      <origin xyz="0.0 0.0 0.0" rpy="0.0 0.0 0.0" />
      <geometry>
        <mesh filename="package://centauro_urdf/meshes/v2/hip-pitch.stl" scale="0.001 0.001 0.001" />
      </geometry>
    </visual>
    <collision name="hip2_4">
      <origin xyz="1.10696985e-06 -0.13974034 -0.0170087" rpy="-1.5506703332236162 -7.245623069200021e-06 7.101245701440088e-06" />
      <geometry>
        <cylinder radius="0.0808941" length="0.2919804521727749" />
      </geometry>
    </collision>
  <collision_checking><capsule name="hip2_4" /></collision_checking></link>
  <link name="knee_4">
    <inertial>
      <origin xyz="0.00012063381 0.14620674 -0.029740711000000003" rpy="0.0 0.0 0.0" />
      <mass value="2.1199315" />
      <inertia ixx="0.018426402999999997" ixy="2.8226635999999997e-05" ixz="2.9204348e-05" iyy="0.0047685615" iyz="0.002640771" izz="0.017793722" />
    </inertial>
    <visual>
      <origin xyz="0.0 0.0 0.0" rpy="0.0 0.0 0.0" />
      <geometry>
        <mesh filename="package://centauro_urdf/meshes/v2/knee.stl" scale="0.001 0.001 0.001" />
      </geometry>
      <material name="dark_grey" />
    </visual>
    <collision name="knee_4">
      <origin xyz="-4.076516e-06 0.0958646315 -0.014374499999999998" rpy="-1.5324783052069388 -4.0512160326104654e-05 3.898881390804118e-05" />
      <geometry>
        <cylinder radius="0.0664305" length="0.1927502246061244" />
      </geometry>
    </collision>
  <collision_checking><capsule name="knee_4" /></collision_checking></link>
  <link name="ankle1_4">
    <inertial>
      <origin xyz="0.00012360094 -0.06274712 0.0049068453" rpy="0.0 0.0 0.0" />
      <mass value="1.4023368" />
      <inertia ixx="0.0049928829" ixy="5.762355699999999e-06" ixz="-1.9606394e-05" iyy="0.0017621464" iyz="-0.00045315091" izz="0.0048706328" />
    </inertial>
    <visual>
      <origin xyz="0.0 0.0 0.0" rpy="0.0 0.0 0.0" />
      <geometry>
        <mesh filename="package://centauro_urdf/meshes/v2/ankle-pitch.stl" scale="0.001 0.001 0.001" />
      </geometry>
    </visual>
    <collision name="ankle1_4">
      <origin xyz="2.260750000000002e-07 -0.020764664999999998 0.00010889250000000001" rpy="-1.5912124973162882 0.00029736394117794144 -0.00030349780205160657" />
      <geometry>
        <cylinder radius="0.0781037" length="0.04788405128558378" />
      </geometry>
    </collision>
  <collision_checking><capsule name="ankle1_4" /></collision_checking></link>
  <link name="ankle2_4">
    <inertial>
      <origin xyz="0.0018496706 0.00051322371 -0.06730924" rpy="0.0 0.0 0.0" />
      <mass value="1.7656714" />
      <inertia ixx="0.0073976286" ixy="-9.7557687e-07" ixz="-0.0002295255" iyy="0.0054434358" iyz="-3.6337754e-05" izz="0.0043055053" />
    </inertial>
    <visual>
      <origin xyz="0.0 0.0 0.0" rpy="0.0 0.0 0.0" />
      <geometry>
        <mesh filename="package://centauro_urdf/meshes/v2/ankle-yaw.stl" scale="0.001 0.001 0.001" />
      </geometry>
      <material name="dark_grey" />
    </visual>
    <collision name="ankle2_4">
      <origin xyz="-1.177807e-05 0.001827005 -0.0652808" rpy="-3.1390989814835946 0.0002409935691509803 -0.1926856017007952" />
      <geometry>
        <cylinder radius="0.0813545" length="0.07370263129636398" />
      </geometry>
    </collision>
  <collision_checking><capsule name="ankle2_4" /></collision_checking></link>
  <link name="wheel_4">
    <inertial>
      <origin xyz="0.0 0.0 0.0031155904" rpy="0.0 0.0 0.0" />
      <mass value="1.11164" />
      <inertia ixx="0.0028174054" ixy="0.0" ixz="0.0" iyy="0.0028175648" iyz="0.0" izz="0.0041817161999999995" />
    </inertial>
    <visual>
      <origin xyz="0.0 0.0 0.0" rpy="0.0 0.0 0.0" />
      <geometry>
        <mesh filename="package://centauro_urdf/meshes/v2/wheel.stl" scale="0.001 0.001 0.001" />
      </geometry>
      <material name="black" />
    </visual>
    <collision name="wheel_4">
      <origin xyz="0.0 0.0 0.0" rpy="0.0 0.0 0.0" />
      <geometry>
        <cylinder radius="0.078" length="0.11" />
      </geometry>
    </collision>
  <collision_checking><capsule name="wheel_4" /></collision_checking></link>
  <link name="contact_4" />
  <joint name="contact_joint_4" type="fixed">
    <origin xyz="0.0 0.0 -0.176" rpy="0.0 0.0 0.0" />
    <parent link="ankle2_4" />
    <child link="contact_4" />
  </joint>
  <joint name="hip_yaw_4" type="revolute">
    <origin xyz="-0.25 -0.125 -0.056600000000000004" rpy="0.0 0.0 0.0" />
    <axis xyz="0.0 0.0 -1.0" />
    <parent link="pelvis" />
    <child link="hip1_4" />
    <limit effort="304.0" lower="-2.03" upper="2.51" velocity="8.8" />
  </joint>
  <joint name="hip_pitch_4" type="revolute">
    <origin xyz="0.0 -0.1146 -0.0625" rpy="1.57079632679 0.0 0.0" />
    <axis xyz="0.0 0.0 1.0" />
    <parent link="hip1_4" />
    <child link="hip2_4" />
    <limit effort="304.0" lower="-2.0326" upper="2.0524" velocity="8.8" />
  </joint>
  <joint name="knee_pitch_4" type="revolute">
    <origin xyz="0.0 -0.3 -0.1182" rpy="3.14159265359 0.0 0.0" />
    <axis xyz="0.0 0.0 1.0" />
    <parent link="hip2_4" />
    <child link="knee_4" />
    <limit effort="304.0" lower="-2.4176" upper="2.3884" velocity="8.8" />
  </joint>
  <joint name="ankle_pitch_4" type="revolute">
    <origin xyz="0.0 0.2 -0.10015" rpy="3.14159265359 0.0 0.0" />
    <axis xyz="0.0 0.0 1.0" />
    <parent link="knee_4" />
    <child link="ankle1_4" />
    <limit effort="147.0" lower="-2.3426" upper="2.3934" velocity="8.1" />
  </joint>
  <joint name="ankle_yaw_4" type="revolute">
    <origin xyz="0.0 -0.139 0.00085" rpy="-1.57079632679 0.0 0.0" />
    <axis xyz="0.0 0.0 -1.0" />
    <parent link="ankle1_4" />
    <child link="ankle2_4" />
    <limit effort="35.0" lower="-2.6046" upper="2.5514" velocity="20.0" />
  </joint>
  <joint name="j_wheel_4" type="continuous">
    <origin xyz="0.0 0.0 -0.09834999999999999" rpy="1.57079632679 0.0 0.0" />
    <axis xyz="0.0 0.0 1.0" />
    <parent link="ankle2_4" />
    <child link="wheel_4" />
    <limit effort="35.0" lower="0.0" upper="0.0" velocity="20.0" />
  </joint>
  <link name="world" />
  <joint name="reference" type="floating">
    <parent link="world" />
    <child link="pelvis" />
  </joint>
</robot>
